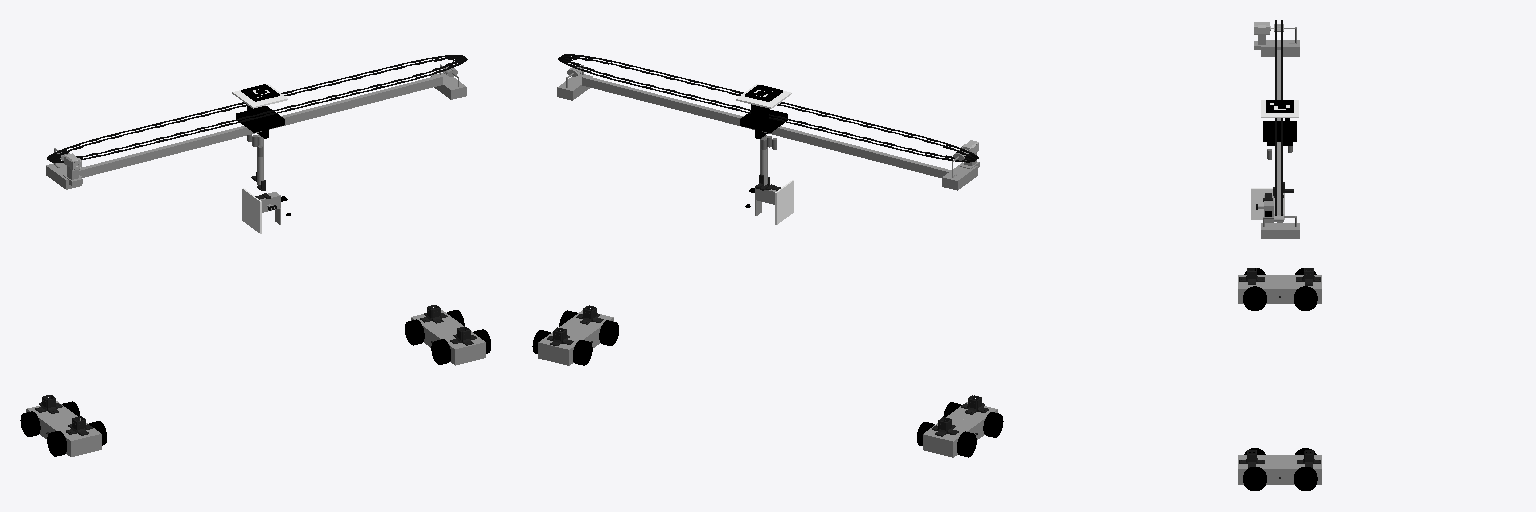
--- Render facts (derived) ---
Views: 3 orthographic renders of the robot side by side, from view 1: azimuth 30°, elevation 25°; view 2: azimuth 150°, elevation 25°; view 3: azimuth 270°, elevation 25°.
Robot: bot — 110 links, 109 joints (1 revolute, 13 continuous, 6 prismatic, 89 fixed); root link Untitled.052; default pose: all joints at 0.
Links seen in each view (by area): view 1: Untitled.052, Untitled.004, Untitled.009, Untitled.058, Untitled.079, Untitled.116, Untitled.026; view 2: Untitled.052, Untitled.009, Untitled.004, Untitled.079, Untitled.058, Untitled.116, Untitled.110, Untitled.026; view 3: Untitled.009, Untitled.004, Untitled.111, Untitled.026.
Link boxes in pixels (box(x1,y1,x2,y2)): Untitled.052: box(79, 75, 442, 177); Untitled.004: box(26, 401, 101, 456); Untitled.009: box(411, 310, 485, 365); Untitled.058: box(49, 57, 467, 162); Untitled.079: box(47, 55, 464, 160); Untitled.116: box(242, 188, 261, 233); Untitled.026: box(236, 106, 284, 132); Untitled.052: box(582, 75, 951, 177); Untitled.009: box(538, 310, 613, 365); Untitled.004: box(923, 402, 997, 457); Untitled.079: box(558, 56, 975, 162); Untitled.058: box(561, 54, 978, 159); Untitled.116: box(775, 180, 793, 224); Untitled.110: box(942, 162, 977, 190); Untitled.026: box(740, 109, 787, 132); Untitled.009: box(1238, 455, 1321, 484); Untitled.004: box(1238, 275, 1321, 303); Untitled.111: box(1261, 223, 1299, 238); Untitled.026: box(1263, 121, 1296, 141).
Size in the robot's own frame: 2.81 by 0.5 by 1.88 metres.
39 mesh visuals loaded from 25 distinct referenced files (14 binary STL); not drawn: 17 (reference not matched to a file when rendering).

URDF robot description (bot):
<?xml version="1.0"?>
<!-- created with Phobos 1.0.1 "Capricious Choutengan" -->
  <robot name="bot">

    <link name="Untitled">
      <inertial>
        <origin xyz="0 0 0" rpy="0 0 0"/>
        <mass value="0.001"/>
        <inertia ixx="0.001" ixy="0" ixz="0" iyy="0.001" iyz="0" izz="0.001"/>
      </inertial>
    </link>

    <link name="Untitled.001">
      <inertial>
        <origin xyz="0 0 0" rpy="0 0 0"/>
        <mass value="0.001"/>
        <inertia ixx="0.001" ixy="0" ixz="0" iyy="0.001" iyz="0" izz="0.001"/>
      </inertial>
    </link>

    <link name="Untitled.002">
      <inertial>
        <origin xyz="0 0 0" rpy="0 0 0"/>
        <mass value="0.001"/>
        <inertia ixx="0.001" ixy="0" ixz="0" iyy="0.001" iyz="0" izz="0.001"/>
      </inertial>
    </link>

    <link name="Untitled.003">
      <inertial>
        <origin xyz="0 0 0" rpy="0 0 0"/>
        <mass value="0.001"/>
        <inertia ixx="0.001" ixy="0" ixz="0" iyy="0.001" iyz="0" izz="0.001"/>
      </inertial>
    </link>

    <link name="Untitled.004">
      <inertial>
        <origin xyz="0 0 0" rpy="0 0 0"/>
        <mass value="8.0"/>
        <inertia ixx="0.00043" ixy="0" ixz="0" iyy="0.00145" iyz="0" izz="0.06667"/>
      </inertial>
      <visual name="base link.000">
        <origin xyz="0 0 0" rpy="0 0 0"/>
        <geometry>
          <box size="0.5 0.2 0.1"/>
        </geometry>
        <material name="Material.005"/>
      </visual>
      <collision name="base link.000">
        <origin xyz="0 0 0" rpy="0 0 0"/>
        <geometry>
          <box size="0.5 0.2 0.1"/>
        </geometry>
      </collision>
    </link>

    <link name="Untitled.005">
      <inertial>
        <origin xyz="0 0 0" rpy="0 0 0"/>
        <mass value="0.25"/>
        <inertia ixx="7e-05" ixy="0" ixz="0" iyy="0.00013" iyz="0" izz="0.00056"/>
      </inertial>
      <visual name="bl Link.000">
        <origin xyz="-0.0022 0 0" rpy="-3.14159 0 0"/>
        <geometry>
          <mesh filename="Cylinder.004.stl" scale="0.77778 0.77778 1.0"/>
        </geometry>
        <material name="Material.004"/>
      </visual>
      <collision name="bl Link.000">
        <origin xyz="-0.0022 0 0" rpy="-3.14159 0 0"/>
        <geometry>
          <cylinder radius="0.07" length="0.05"/>
        </geometry>
      </collision>
    </link>

    <link name="Untitled.006">
      <inertial>
        <origin xyz="0 0 0" rpy="0 0 0"/>
        <mass value="0.25"/>
        <inertia ixx="7e-05" ixy="0" ixz="0" iyy="0.00013" iyz="0" izz="0.00056"/>
      </inertial>
      <visual name="bl Link.002.000">
        <origin xyz="-0.0022 0 0" rpy="-3.14159 0 0"/>
        <geometry>
          <cylinder radius="0.07" length="0.05"/>
        </geometry>
        <material name="Material.001"/>
      </visual>
      <collision name="bl Link.002.000">
        <origin xyz="-0.0022 0 0" rpy="-3.14159 0 0"/>
        <geometry>
          <cylinder radius="0.07" length="0.05"/>
        </geometry>
      </collision>
    </link>

    <link name="Untitled.007">
      <inertial>
        <origin xyz="0 0 0" rpy="0 0 0"/>
        <mass value="0.25"/>
        <inertia ixx="7e-05" ixy="0" ixz="0" iyy="0.00013" iyz="0" izz="0.00056"/>
      </inertial>
      <visual name="bl Link.003.000">
        <origin xyz="-0.0022 0 0" rpy="0 0 0"/>
        <geometry>
          <cylinder radius="0.07" length="0.05"/>
        </geometry>
        <material name="Material.002"/>
      </visual>
      <collision name="bl Link.003.000">
        <origin xyz="-0.0022 0 0" rpy="0 0 0"/>
        <geometry>
          <cylinder radius="0.07" length="0.05"/>
        </geometry>
      </collision>
    </link>

    <link name="Untitled.008">
      <inertial>
        <origin xyz="0 0 0" rpy="0 0 0"/>
        <mass value="0.25"/>
        <inertia ixx="7e-05" ixy="0" ixz="0" iyy="0.00013" iyz="0" izz="0.00056"/>
      </inertial>
      <visual name="bl Link.001.000">
        <origin xyz="-0.0022 0 0" rpy="0 0 0"/>
        <geometry>
          <cylinder radius="0.07" length="0.05"/>
        </geometry>
        <material name="Material.003"/>
      </visual>
      <collision name="bl Link.001.000">
        <origin xyz="-0.0022 0 0" rpy="0 0 0"/>
        <geometry>
          <cylinder radius="0.07" length="0.05"/>
        </geometry>
      </collision>
    </link>

    <link name="Untitled.009">
      <inertial>
        <origin xyz="0 0 0" rpy="0 0 0"/>
        <mass value="8.0"/>
        <inertia ixx="0.00043" ixy="0" ixz="0" iyy="0.00145" iyz="0" izz="0.06667"/>
      </inertial>
      <visual name="base link.001">
        <origin xyz="0 0 0" rpy="0 0 0"/>
        <geometry>
          <box size="0.5 0.2 0.1"/>
        </geometry>
        <material name="Material.005"/>
      </visual>
      <collision name="base link.000">
        <origin xyz="0 0 0" rpy="0 0 0"/>
        <geometry>
          <box size="0.5 0.2 0.1"/>
        </geometry>
      </collision>
    </link>

    <link name="Untitled.010">
      <inertial>
        <origin xyz="0 0 0" rpy="0 0 0"/>
        <mass value="0.001"/>
        <inertia ixx="0.001" ixy="0" ixz="0" iyy="0.001" iyz="0" izz="0.001"/>
      </inertial>
    </link>

    <link name="Untitled.011">
      <inertial>
        <origin xyz="0 0 0" rpy="0 0 0"/>
        <mass value="0.25"/>
        <inertia ixx="7e-05" ixy="0" ixz="0" iyy="0.00013" iyz="0" izz="0.00056"/>
      </inertial>
      <visual name="bl Link.003.001">
        <origin xyz="-0.0022 0 0" rpy="0 0 0"/>
        <geometry>
          <cylinder radius="0.07" length="0.05"/>
        </geometry>
        <material name="Material.002"/>
      </visual>
      <collision name="bl Link.003.000">
        <origin xyz="-0.0022 0 0" rpy="0 0 0"/>
        <geometry>
          <cylinder radius="0.07" length="0.05"/>
        </geometry>
      </collision>
    </link>

    <link name="Untitled.012">
      <inertial>
        <origin xyz="0 0 0" rpy="0 0 0"/>
        <mass value="0.001"/>
        <inertia ixx="0.001" ixy="0" ixz="0" iyy="0.001" iyz="0" izz="0.001"/>
      </inertial>
    </link>

    <link name="Untitled.013">
      <inertial>
        <origin xyz="0 0 0" rpy="0 0 0"/>
        <mass value="0.001"/>
        <inertia ixx="0.001" ixy="0" ixz="0" iyy="0.001" iyz="0" izz="0.001"/>
      </inertial>
      <visual name="Pulley T-Mxl-Xl-Htd-Gt2 N-Tooth 20141225-11880-1Y2Kfq6-0">
        <origin xyz="0 0 -0.05" rpy="0 0 0"/>
        <geometry>
          <mesh filename="Pulley T-Mxl-Xl-Htd-Gt2 N-Tooth 20141225-11880-1Y2Kfq6-0.stl" scale="0.00021 0.00037 0.005"/>
        </geometry>
        <material name="Material.039"/>
      </visual>
    </link>

    <link name="Untitled.014">
      <inertial>
        <origin xyz="0 0 0" rpy="0 0 0"/>
        <mass value="0.001"/>
        <inertia ixx="0.001" ixy="0" ixz="0" iyy="0.001" iyz="0" izz="0.001"/>
      </inertial>
    </link>

    <link name="Untitled.015">
      <inertial>
        <origin xyz="0 0 0" rpy="0 0 0"/>
        <mass value="0.25"/>
        <inertia ixx="7e-05" ixy="0" ixz="0" iyy="0.00013" iyz="0" izz="0.00056"/>
      </inertial>
      <visual name="bl Link.001">
        <origin xyz="-0.0022 0 0" rpy="-3.14159 0 0"/>
        <geometry>
          <cylinder radius="0.07" length="0.05"/>
        </geometry>
        <material name="Material.004"/>
      </visual>
      <collision name="bl Link.000">
        <origin xyz="-0.0022 0 0" rpy="-3.14159 0 0"/>
        <geometry>
          <cylinder radius="0.07" length="0.05"/>
        </geometry>
      </collision>
    </link>

    <link name="Untitled.016">
      <inertial>
        <origin xyz="0 0 0" rpy="0 0 0"/>
        <mass value="0.001"/>
        <inertia ixx="0.001" ixy="0" ixz="0" iyy="0.001" iyz="0" izz="0.001"/>
      </inertial>
    </link>

    <link name="Untitled.017">
      <inertial>
        <origin xyz="0 0 0" rpy="0 0 0"/>
        <mass value="0.25"/>
        <inertia ixx="7e-05" ixy="0" ixz="0" iyy="0.00013" iyz="0" izz="0.00056"/>
      </inertial>
      <visual name="bl Link.001.001">
        <origin xyz="-0.0022 0 0" rpy="0 0 0"/>
        <geometry>
          <cylinder radius="0.07" length="0.05"/>
        </geometry>
        <material name="Material.003"/>
      </visual>
      <collision name="bl Link.001.000">
        <origin xyz="-0.0022 0 0" rpy="0 0 0"/>
        <geometry>
          <cylinder radius="0.07" length="0.05"/>
        </geometry>
      </collision>
    </link>

    <link name="Untitled.018">
      <inertial>
        <origin xyz="0 0 0" rpy="0 0 0"/>
        <mass value="0.02"/>
        <inertia ixx="2e-05" ixy="0" ixz="0" iyy="2e-05" iyz="0" izz="2e-05"/>
      </inertial>
      <visual name="base link.002">
        <origin xyz="0 0 0" rpy="0 0 0"/>
        <geometry>
          <mesh filename="base link.stl" scale="0.74892 0.75 0.33333"/>
        </geometry>
        <material name="Material.035"/>
      </visual>
      <collision name="base link.002.000">
        <origin xyz="0 0 0" rpy="0 0 0"/>
        <geometry>
          <mesh filename="base link.001.stl" scale="1.5043 1.5 1.0"/>
        </geometry>
      </collision>
    </link>

    <link name="Untitled.019">
      <inertial>
        <origin xyz="0 0 0" rpy="0 0 0"/>
        <mass value="0.01"/>
        <inertia ixx="2e-05" ixy="0" ixz="0" iyy="2e-05" iyz="0" izz="2e-05"/>
      </inertial>
      <visual name="inner Link.003">
        <origin xyz="0 0 0" rpy="0 0 0"/>
        <geometry>
          <mesh filename="inner Link.006.stl" scale="0.59176 0.57692 0.33333"/>
        </geometry>
        <material name="Material.036"/>
      </visual>
      <collision name="inner Link.003.000">
        <origin xyz="0 0 0" rpy="0 0 0"/>
        <geometry>
          <mesh filename="inner Link.007.stl" scale="1.0 1.0 1.0"/>
        </geometry>
      </collision>
    </link>

    <link name="Untitled.020">
      <inertial>
        <origin xyz="0 0 0" rpy="0 0 0"/>
        <mass value="0.001"/>
        <inertia ixx="2e-05" ixy="0" ixz="0" iyy="2e-05" iyz="0" izz="2e-05"/>
      </inertial>
      <visual name="Half Sphere 2">
        <origin xyz="0 0 0" rpy="-1.5708 0 0"/>
        <geometry>
          <mesh filename="Half Sphere 2.002.stl" scale="0.00489 0.00488 0.00488"/>
        </geometry>
        <material name="Material.037"/>
      </visual>
      <collision name="Half Sphere 2.000">
        <origin xyz="-0.001 0 -0.00176" rpy="-1.5708 0 0"/>
        <geometry>
          <mesh filename="Half Sphere 2.003.stl" scale="1.0 1.0 1.0"/>
        </geometry>
      </collision>
    </link>

    <link name="Untitled.021">
      <inertial>
        <origin xyz="0 0 0.01" rpy="0 0 0"/>
        <mass value="0.01"/>
        <inertia ixx="2e-05" ixy="0" ixz="0" iyy="2e-05" iyz="0" izz="2e-05"/>
      </inertial>
      <visual name="Cube.003">
        <origin xyz="0 0 0.01" rpy="0 0 0"/>
        <geometry>
          <box size="0.15 0.03 0.01"/>
        </geometry>
        <material name="Material.009"/>
      </visual>
      <collision name="Cube.003">
        <origin xyz="0 0 0.01" rpy="0 0 0"/>
        <geometry>
          <box size="0.15 0.03 0.01"/>
        </geometry>
      </collision>
    </link>

    <link name="Untitled.022">
      <inertial>
        <origin xyz="0 0 0" rpy="0 0 0"/>
        <mass value="0.05"/>
        <inertia ixx="2e-05" ixy="0" ixz="0" iyy="2e-05" iyz="0" izz="2e-05"/>
      </inertial>
      <visual name="Cube.002">
        <origin xyz="0 0 0" rpy="0 0 0"/>
        <geometry>
          <box size="0.03 0.03 0.06"/>
        </geometry>
        <material name="Material.010"/>
      </visual>
      <collision name="Cube.002">
        <origin xyz="0 0 0" rpy="0 0 0"/>
        <geometry>
          <box size="0.03 0.03 0.06"/>
        </geometry>
      </collision>
    </link>

    <link name="Untitled.023">
      <inertial>
        <origin xyz="0 0 0" rpy="0 0 0"/>
        <mass value="0.05"/>
        <inertia ixx="2e-05" ixy="0" ixz="0" iyy="2e-05" iyz="0" izz="2e-05"/>
      </inertial>
      <visual name="Cube.001">
        <origin xyz="0 0 0" rpy="0 0 0"/>
        <geometry>
          <box size="0.03 0.03 0.06"/>
        </geometry>
        <material name="Material.010"/>
      </visual>
      <collision name="Cube.001">
        <origin xyz="0 0 0" rpy="0 0 0"/>
        <geometry>
          <box size="0.03 0.03 0.06"/>
        </geometry>
      </collision>
    </link>

    <link name="Untitled.024">
      <inertial>
        <origin xyz="0 0 0" rpy="0 0 0"/>
        <mass value="0.001"/>
        <inertia ixx="0.001" ixy="0" ixz="0" iyy="0.001" iyz="0" izz="0.001"/>
      </inertial>
    </link>

    <link name="Untitled.025">
      <inertial>
        <origin xyz="0 0 0" rpy="0 0 0"/>
        <mass value="0.001"/>
        <inertia ixx="0.001" ixy="0" ixz="0" iyy="0.001" iyz="0" izz="0.001"/>
      </inertial>
    </link>

    <link name="Untitled.026">
      <inertial>
        <origin xyz="0 0 0" rpy="0 0 0"/>
        <mass value="0.5"/>
        <inertia ixx="2e-05" ixy="0" ixz="0" iyy="2e-05" iyz="0" izz="2e-05"/>
      </inertial>
      <visual name="Cube">
        <origin xyz="0 0 0" rpy="-1.5708 0 0"/>
        <geometry>
          <box size="0.2 0.2 0.04"/>
        </geometry>
        <material name="Material.008"/>
      </visual>
      <collision name="Cube">
        <origin xyz="0 0 0" rpy="-1.5708 0 0"/>
        <geometry>
          <box size="0.2 0.2 0.04"/>
        </geometry>
      </collision>
    </link>

    <link name="Untitled.027">
      <inertial>
        <origin xyz="0 0 0" rpy="0 0 0"/>
        <mass value="0.5"/>
        <inertia ixx="0.00286" ixy="0" ixz="0" iyy="0.00286" iyz="0" izz="0.0001"/>
      </inertial>
      <visual name="base link">
        <origin xyz="0 0 0" rpy="0 0 0"/>
        <geometry>
          <mesh filename="base link.006.stl" scale="1.0 1.0 1.0"/>
        </geometry>
        <material name="Material.011"/>
      </visual>
      <collision name="base link.000.001.002">
        <origin xyz="0 0.00061 0" rpy="0 0 0"/>
        <geometry>
          <mesh filename="base link.009.stl" scale="1.0 1.0 1.0"/>
        </geometry>
      </collision>
    </link>

    <link name="Untitled.028">
      <inertial>
        <origin xyz="0 0 0.02952" rpy="0 0 0"/>
        <mass value="0.5"/>
        <inertia ixx="0.00377" ixy="0" ixz="0" iyy="0.00377" iyz="0" izz="4e-05"/>
      </inertial>
      <visual name="inner Link">
        <origin xyz="0 0 0.02952" rpy="0 0 0"/>
        <geometry>
          <mesh filename="inner Link.stl" scale="1.0 1.0 1.0"/>
        </geometry>
        <material name="Material.012"/>
      </visual>
      <collision name="inner Link.000">
        <origin xyz="0 0 0.02952" rpy="0 0 0"/>
        <geometry>
          <mesh filename="inner Link.003.stl" scale="1.0 1.0 1.0"/>
        </geometry>
      </collision>
    </link>

    <link name="Untitled.029">
      <inertial>
        <origin xyz="0 0 0" rpy="0 0 0"/>
        <mass value="0.1"/>
        <inertia ixx="2e-05" ixy="0" ixz="0" iyy="2e-05" iyz="0" izz="2e-05"/>
      </inertial>
      <visual name="Cube.004">
        <origin xyz="0 0 0" rpy="0 0 0"/>
        <geometry>
          <box size="0.06 0.026 0.01"/>
        </geometry>
        <material name="Material.013"/>
      </visual>
      <collision name="Cube.004">
        <origin xyz="0 0 0" rpy="0 0 0"/>
        <geometry>
          <box size="0.06 0.026 0.01"/>
        </geometry>
      </collision>
    </link>

    <link name="Untitled.030">
      <inertial>
        <origin xyz="0 0 0" rpy="0 0 0"/>
        <mass value="0.5"/>
        <inertia ixx="0.00286" ixy="0" ixz="0" iyy="0.00286" iyz="0" izz="0.0001"/>
      </inertial>
      <visual name="base link.003">
        <origin xyz="0 0 0" rpy="0 0 0"/>
        <geometry>
          <mesh filename="base link.007.stl" scale="1.0 1.0 1.0"/>
        </geometry>
        <material name="Material.014"/>
      </visual>
      <collision name="base link.003.000">
        <origin xyz="0 0 0" rpy="0 0 0"/>
        <geometry>
          <mesh filename="base link.010.stl" scale="1.0 1.0 1.0"/>
        </geometry>
      </collision>
    </link>

    <link name="Untitled.031">
      <inertial>
        <origin xyz="0 0 0" rpy="0 0 0"/>
        <mass value="0.5"/>
        <inertia ixx="0.00377" ixy="0" ixz="0" iyy="0.00377" iyz="0" izz="4e-05"/>
      </inertial>
      <visual name="inner Link.001">
        <origin xyz="0 0 0" rpy="0 0 0"/>
        <geometry>
          <mesh filename="inner Link.001.stl" scale="1.0 1.0 1.0"/>
        </geometry>
        <material name="Material.015"/>
      </visual>
      <collision name="inner Link.001.000">
        <origin xyz="0 0 0" rpy="0 0 0"/>
        <geometry>
          <mesh filename="inner Link.004.stl" scale="1.0 1.0 1.0"/>
        </geometry>
      </collision>
    </link>

    <link name="Untitled.032">
      <inertial>
        <origin xyz="0 0 0" rpy="0 0 0"/>
        <mass value="0.1"/>
        <inertia ixx="2e-05" ixy="0" ixz="0" iyy="2e-05" iyz="0" izz="2e-05"/>
      </inertial>
      <visual name="Cube.005">
        <origin xyz="0 0 0" rpy="0 0 0"/>
        <geometry>
          <box size="0.06 0.026 0.01"/>
        </geometry>
        <material name="Material.016"/>
      </visual>
      <collision name="Cube.005">
        <origin xyz="0 0 0" rpy="0 0 0"/>
        <geometry>
          <box size="0.06 0.026 0.01"/>
        </geometry>
      </collision>
    </link>

    <link name="Untitled.033">
      <inertial>
        <origin xyz="0 0 0" rpy="0 0 0"/>
        <mass value="0.5"/>
        <inertia ixx="0.00286" ixy="0" ixz="0" iyy="0.00286" iyz="0" izz="0.0001"/>
      </inertial>
      <visual name="base link.004">
        <origin xyz="0 0 0" rpy="0 0 0"/>
        <geometry>
          <mesh filename="base link.008.stl" scale="1.0 1.0 1.0"/>
        </geometry>
        <material name="Material.017"/>
      </visual>
      <collision name="base link.004.000">
        <origin xyz="0 0 0" rpy="0 0 0"/>
        <geometry>
          <mesh filename="base link.011.stl" scale="1.0 1.0 1.0"/>
        </geometry>
      </collision>
    </link>

    <link name="Untitled.034">
      <inertial>
        <origin xyz="0 0 0" rpy="0 0 0"/>
        <mass value="0.5"/>
        <inertia ixx="0.00377" ixy="0" ixz="0" iyy="0.00377" iyz="0" izz="4e-05"/>
      </inertial>
      <visual name="inner Link.002">
        <origin xyz="0 0 0" rpy="0 0 0"/>
        <geometry>
          <mesh filename="inner Link.002.stl" scale="1.0 1.0 1.0"/>
        </geometry>
        <material name="Material.018"/>
      </visual>
      <collision name="inner Link.002.000">
        <origin xyz="0 0 0" rpy="0 0 0"/>
        <geometry>
          <mesh filename="inner Link.005.stl" scale="1.0 1.0 1.0"/>
        </geometry>
      </collision>
    </link>

    <link name="Untitled.035">
      <inertial>
        <origin xyz="0 0 0" rpy="0 0 0"/>
        <mass value="0.1"/>
        <inertia ixx="2e-05" ixy="0" ixz="0" iyy="2e-05" iyz="0" izz="2e-05"/>
      </inertial>
      <visual name="Cube.006">
        <origin xyz="0 0 0" rpy="0 0 0"/>
        <geometry>
          <box size="0.06 0.026 0.01"/>
        </geometry>
        <material name="Material.019"/>
      </visual>
      <collision name="Cube.006">
        <origin xyz="0 0 0" rpy="0 0 0"/>
        <geometry>
          <box size="0.06 0.026 0.01"/>
        </geometry>
      </collision>
    </link>

    <link name="Untitled.036">
      <inertial>
        <origin xyz="0 0 0" rpy="0 0 0"/>
        <mass value="0.3"/>
        <inertia ixx="2e-05" ixy="0" ixz="0" iyy="2e-05" iyz="0" izz="2e-05"/>
      </inertial>
      <visual name="Cube.007">
        <origin xyz="0 0 0" rpy="0 0 0"/>
        <geometry>
          <box size="0.06 0.15 0.08"/>
        </geometry>
        <material name="Material.020"/>
      </visual>
      <collision name="Cube.007">
        <origin xyz="0 0 0" rpy="0 0 0"/>
        <geometry>
          <box size="0.04 0.15 0.08"/>
        </geometry>
      </collision>
    </link>

    <link name="Untitled.037">
      <inertial>
        <origin xyz="0 0 0.01" rpy="0 0 0"/>
        <mass value="0.05"/>
        <inertia ixx="2e-05" ixy="0" ixz="0" iyy="2e-05" iyz="0" izz="2e-05"/>
      </inertial>
      <visual name="Cube.008">
        <origin xyz="0 0 0.01" rpy="-1.5708 0 0"/>
        <geometry>
          <box size="0.06 0.005 0.1"/>
        </geometry>
        <material name="Material.007"/>
      </visual>
      <collision name="Cube.008">
        <origin xyz="0 0 0.01" rpy="-1.5708 0 0"/>
        <geometry>
          <box size="0.04 0.005 0.1"/>
        </geometry>
      </collision>
    </link>

    <link name="Untitled.038">
      <inertial>
        <origin xyz="0 0 0.01" rpy="0 0 0"/>
        <mass value="0.05"/>
        <inertia ixx="2e-05" ixy="0" ixz="0" iyy="2e-05" iyz="0" izz="2e-05"/>
      </inertial>
      <visual name="Cube.009">
        <origin xyz="0 0 0.01" rpy="-1.5708 0 0"/>
        <geometry>
          <box size="0.06 0.005 0.1"/>
        </geometry>
        <material name="Material.007"/>
      </visual>
      <collision name="Cube.009">
        <origin xyz="0 0 0.01" rpy="-1.5708 0 0"/>
        <geometry>
          <box size="0.04 0.005 0.1"/>
        </geometry>
      </collision>
    </link>

    <link name="Untitled.039">
      <inertial>
        <origin xyz="0 0 0" rpy="0 0 0"/>
        <mass value="0.001"/>
        <inertia ixx="0.001" ixy="0" ixz="0" iyy="0.001" iyz="0" izz="0.001"/>
      </inertial>
      <visual name="L bracket.007">
        <origin xyz="0 0 -0.02" rpy="0 0 0"/>
        <geometry>
          <mesh filename="L bracket.stl" scale="0.00116 0.0016 0.00167"/>
        </geometry>
        <material name="Material.051"/>
      </visual>
    </link>

    <link name="Untitled.040">
      <inertial>
        <origin xyz="0 0 0" rpy="0 0 0"/>
        <mass value="0.001"/>
        <inertia ixx="0.001" ixy="0" ixz="0" iyy="0.001" iyz="0" izz="0.001"/>
      </inertial>
      <visual name="L bracket.004">
        <origin xyz="0 0 0" rpy="0 0 0"/>
        <geometry>
          <mesh filename="L bracket.stl" scale="0.00116 0.0016 0.00167"/>
        </geometry>
        <material name="Material.051"/>
      </visual>
    </link>

    <link name="Untitled.041">
      <inertial>
        <origin xyz="0 0 0" rpy="0 0 0"/>
        <mass value="0.005"/>
        <inertia ixx="2e-05" ixy="0" ixz="0" iyy="2e-05" iyz="0" izz="2e-05"/>
      </inertial>
      <visual name="Cube.012.000">
        <origin xyz="0 0 0" rpy="0 0 0"/>
        <geometry>
          <box size="0.06 0.026 0.01"/>
        </geometry>
        <material name="Material.025"/>
      </visual>
      <collision name="Cube.012.000">
        <origin xyz="0 0 0" rpy="0 0 0"/>
        <geometry>
          <box size="0.06 0.026 0.01"/>
        </geometry>
      </collision>
    </link>

    <link name="Untitled.042">
      <inertial>
        <origin xyz="0 0 0.01" rpy="0 0 0"/>
        <mass value="0.005"/>
        <inertia ixx="2e-05" ixy="0" ixz="0" iyy="2e-05" iyz="0" izz="2e-05"/>
      </inertial>
      <visual name="Cube.013">
        <origin xyz="0 0 0.01" rpy="-1.5708 0 -1.5708"/>
        <geometry>
          <box size="0.02 0.05 0.01"/>
        </geometry>
        <material name="Material.026"/>
      </visual>
      <collision name="Cube.013">
        <origin xyz="0 0 0.01" rpy="-1.5708 0 -1.5708"/>
        <geometry>
          <box size="0.02 0.05 0.01"/>
        </geometry>
      </collision>
    </link>

    <link name="Untitled.043">
      <inertial>
        <origin xyz="0 0 0" rpy="0 0 0"/>
        <mass value="0.001"/>
        <inertia ixx="0.001" ixy="0" ixz="0" iyy="0.001" iyz="0" izz="0.001"/>
      </inertial>
      <visual name="Cylinder.001">
        <origin xyz="0 0 0" rpy="0 0 0"/>
        <geometry>
          <cylinder radius="0.005" length="0.01"/>
        </geometry>
        <material name="Material.027"/>
      </visual>
    </link>

    <link name="Untitled.044">
      <inertial>
        <origin xyz="0 0 0" rpy="0 0 0"/>
        <mass value="0.001"/>
        <inertia ixx="0.001" ixy="0" ixz="0" iyy="0.001" iyz="0" izz="0.001"/>
      </inertial>
      <visual name="Cylinder">
        <origin xyz="0 0 0" rpy="0 0 0"/>
        <geometry>
          <cylinder radius="0.005" length="0.01"/>
        </geometry>
        <material name="Material.027"/>
      </visual>
    </link>

    <link name="Untitled.045">
      <inertial>
        <origin xyz="0 0 0" rpy="0 0 0"/>
        <mass value="0.001"/>
        <inertia ixx="0.001" ixy="0" ixz="0" iyy="0.001" iyz="0" izz="0.001"/>
      </inertial>
      <visual name="L bracket.008">
        <origin xyz="0 0 0" rpy="0 0 0"/>
        <geometry>
          <mesh filename="L bracket.stl" scale="0.00116 0.0016 0.00167"/>
        </geometry>
        <material name="Material.051"/>
      </visual>
    </link>

    <link name="Untitled.046">
      <inertial>
        <origin xyz="0 0 0" rpy="0 0 0"/>
        <mass value="0.001"/>
        <inertia ixx="0.001" ixy="0" ixz="0" iyy="0.001" iyz="0" izz="0.001"/>
      </inertial>
      <visual name="L bracket.011">
        <origin xyz="0 0 0" rpy="0 0 0"/>
        <geometry>
          <mesh filename="L bracket.stl" scale="0.00116 0.0016 0.00167"/>
        </geometry>
        <material name="Material.051"/>
      </visual>
    </link>

    <link name="Untitled.047">
      <inertial>
        <origin xyz="0 0 0" rpy="0 0 0"/>
        <mass value="0.01"/>
        <inertia ixx="2e-05" ixy="0" ixz="0" iyy="2e-05" iyz="0" izz="2e-05"/>
      </inertial>
      <visual name="Cube.012">
        <origin xyz="0 0 0" rpy="0 0 0"/>
        <geometry>
          <box size="0.04 0.05 0.01"/>
        </geometry>
        <material name="Material.032"/>
      </visual>
      <collision name="Cube.012">
        <origin xyz="0 0 0" rpy="0 0 0"/>
        <geometry>
          <box size="0.04 0.05 0.01"/>
        </geometry>
      </collision>
    </link>

    <link name="Untitled.048">
      <inertial>
        <origin xyz="0 0 0" rpy="0 0 0"/>
        <mass value="0.001"/>
        <inertia ixx="0.001" ixy="0" ixz="0" iyy="0.001" iyz="0" izz="0.001"/>
      </inertial>
      <visual name="Cube.014">
        <origin xyz="0 0 0" rpy="0 0 0"/>
        <geometry>
          <box size="0.1 0.07 0.03"/>
        </geometry>
        <material name="Material.041"/>
      </visual>
    </link>

    <link name="Untitled.049">
      <inertial>
        <origin xyz="0 0 0" rpy="0 0 0"/>
        <mass value="0.001"/>
        <inertia ixx="0.001" ixy="0" ixz="0" iyy="0.001" iyz="0" izz="0.001"/>
      </inertial>
      <visual name="Cube.015">
        <origin xyz="0 0 0" rpy="0 0 0"/>
        <geometry>
          <box size="0.05 0.05 0.08"/>
        </geometry>
        <material name="Material.042"/>
      </visual>
    </link>

    <link name="Untitled.050">
      <inertial>
        <origin xyz="0 0 0" rpy="0 0 0"/>
        <mass value="0.001"/>
        <inertia ixx="0.001" ixy="0" ixz="0" iyy="0.001" iyz="0" izz="0.001"/>
      </inertial>
      <visual name="L bracket.009">
        <origin xyz="0.01 0 0" rpy="0 0 0"/>
        <geometry>
          <mesh filename="L bracket.stl" scale="0.00116 0.0016 0.00167"/>
        </geometry>
        <material name="Material.051"/>
      </visual>
    </link>

    <link name="Untitled.051">
      <inertial>
        <origin xyz="0 0 0" rpy="0 0 0"/>
        <mass value="0.001"/>
        <inertia ixx="0.001" ixy="0" ixz="0" iyy="0.001" iyz="0" izz="0.001"/>
      </inertial>
      <visual name="L bracket.010">
        <origin xyz="0 0 0" rpy="0 0 0"/>
        <geometry>
          <mesh filename="L bracket.stl" scale="0.00116 0.0016 0.00167"/>
        </geometry>
        <material name="Material.051"/>
      </visual>
    </link>

    <link name="Untitled.052">
      <inertial>
        <origin xyz="0 0 0" rpy="0 0 0"/>
        <mass value="2.0"/>
        <inertia ixx="1.00174" ixy="0" ixz="0" iyy="0.00057" iyz="0" izz="0.92057"/>
      </inertial>
      <visual name="horizantal rod">
        <origin xyz="0 0 0" rpy="0 -0.01396 0"/>
        <geometry>
          <mesh filename="horizantal rod.stl" scale="1.02128 1.00001 1.0"/>
        </geometry>
        <material name="Material.030"/>
      </visual>
      <collision name="horizantal rod.000">
        <origin xyz="0 0 0" rpy="0 -0.01396 0"/>
        <geometry>
          <mesh filename="horizantal rod.001.stl" scale="1.0 1.0 1.0"/>
        </geometry>
      </collision>
    </link>

    <link name="Untitled.053">
      <inertial>
        <origin xyz="0 0 0" rpy="0 0 0"/>
        <mass value="0.001"/>
        <inertia ixx="0.001" ixy="0" ixz="0" iyy="0.001" iyz="0" izz="0.001"/>
      </inertial>
      <visual name="NEMA 17">
        <origin xyz="0 0 0" rpy="0 0 0"/>
        <geometry>
          <mesh filename="NEMA 17.stl" scale="0.00142 0.00142 0.00221"/>
        </geometry>
        <material name="Material.038"/>
      </visual>
    </link>

    <link name="Untitled.054">
      <inertial>
        <origin xyz="0 0 0" rpy="0 0 0"/>
        <mass value="0.25"/>
        <inertia ixx="7e-05" ixy="0" ixz="0" iyy="0.00013" iyz="0" izz="0.00056"/>
      </inertial>
      <visual name="bl Link.002.001">
        <origin xyz="-0.0022 0 0" rpy="-3.14159 0 0"/>
        <geometry>
          <cylinder radius="0.07" length="0.05"/>
        </geometry>
        <material name="Material.001"/>
      </visual>
      <collision name="bl Link.002.000">
        <origin xyz="-0.0022 0 0" rpy="-3.14159 0 0"/>
        <geometry>
          <cylinder radius="0.07" length="0.05"/>
        </geometry>
      </collision>
    </link>

    <link name="Untitled.055">
      <inertial>
        <origin xyz="0 0 0" rpy="0 0 0"/>
        <mass value="0.001"/>
        <inertia ixx="0.001" ixy="0" ixz="0" iyy="0.001" iyz="0" izz="0.001"/>
      </inertial>
      <visual name="Cylinder.004">
        <origin xyz="0 0 0" rpy="0 0 0"/>
        <geometry>
          <cylinder radius="0.005" length="0.08"/>
        </geometry>
        <material name="Material.040"/>
      </visual>
    </link>

    <link name="Untitled.056">
      <inertial>
        <origin xyz="0 0 0" rpy="0 0 0"/>
        <mass value="0.001"/>
        <inertia ixx="0.001" ixy="0" ixz="0" iyy="0.001" iyz="0" izz="0.001"/>
      </inertial>
      <visual name="Cylinder.005">
        <origin xyz="0 0 0" rpy="0 0 0"/>
        <geometry>
          <cylinder radius="0.005" length="0.11"/>
        </geometry>
        <material name="Material.040"/>
      </visual>
    </link>

    <link name="Untitled.057">
      <inertial>
        <origin xyz="0 0 0" rpy="0 0 0"/>
        <mass value="0.001"/>
        <inertia ixx="0.001" ixy="0" ixz="0" iyy="0.001" iyz="0" izz="0.001"/>
      </inertial>
      <visual name="Cylinder.006">
        <origin xyz="0 0 0" rpy="0 0 0"/>
        <geometry>
          <cylinder radius="0.005" length="0.05"/>
        </geometry>
        <material name="Material.040"/>
      </visual>
    </link>

    <link name="Untitled.058">
      <inertial>
        <origin xyz="0 0 0" rpy="0 0 0"/>
        <mass value="0.001"/>
        <inertia ixx="0.001" ixy="0" ixz="0" iyy="0.001" iyz="0" izz="0.001"/>
      </inertial>
      <visual name="Original.001">
        <origin xyz="0 0 0.02231" rpy="0 0 0"/>
        <geometry>
          <mesh filename="Original.stl" scale="0.1462 0.01681 0.00592"/>
        </geometry>
        <material name="Material.006"/>
      </visual>
    </link>

    <link name="Untitled.059">
      <inertial>
        <origin xyz="0 0 0" rpy="0 0 0"/>
        <mass value="0.001"/>
        <inertia ixx="0.001" ixy="0" ixz="0" iyy="0.001" iyz="0" izz="0.001"/>
      </inertial>
      <visual name="Cylinder.012">
        <origin xyz="0 0 0" rpy="0 0 0"/>
        <geometry>
          <cylinder radius="0.005" length="0.08"/>
        </geometry>
        <material name="Material.040"/>
      </visual>
    </link>

    <link name="Untitled.060">
      <inertial>
        <origin xyz="0 0 0" rpy="0 0 0"/>
        <mass value="0.001"/>
        <inertia ixx="0.001" ixy="0" ixz="0" iyy="0.001" iyz="0" izz="0.001"/>
      </inertial>
      <visual name="Cylinder.010">
        <origin xyz="0 0 0" rpy="0 0 0"/>
        <geometry>
          <cylinder radius="0.005" length="0.11"/>
        </geometry>
        <material name="Material.040"/>
      </visual>
    </link>

    <link name="Untitled.061">
      <inertial>
        <origin xyz="0 0 0" rpy="0 0 0"/>
        <mass value="0.001"/>
        <inertia ixx="0.001" ixy="0" ixz="0" iyy="0.001" iyz="0" izz="0.001"/>
      </inertial>
      <visual name="Cylinder.009">
        <origin xyz="0 0 0" rpy="0 0 0"/>
        <geometry>
          <cylinder radius="0.005" length="0.08"/>
        </geometry>
        <material name="Material.040"/>
      </visual>
      <visual name="Pulley T-Mxl-Xl-Htd-Gt2 N-Tooth 20141225-11880-1Y2Kfq6-0.001">
        <origin xyz="0 0 0.0194" rpy="0 -3.14159 0"/>
        <geometry>
          <mesh filename="Pulley T-Mxl-Xl-Htd-Gt2 N-Tooth 20141225-11880-1Y2Kfq6-0.stl" scale="0.00021 0.00037 0.005"/>
        </geometry>
        <material name="Material.039"/>
      </visual>
    </link>

    <link name="Untitled.062">
      <inertial>
        <origin xyz="0 0 0" rpy="0 0 0"/>
        <mass value="0.001"/>
        <inertia ixx="0.001" ixy="0" ixz="0" iyy="0.001" iyz="0" izz="0.001"/>
      </inertial>
    </link>

    <link name="Untitled.063">
      <inertial>
        <origin xyz="0 0 0" rpy="0 0 0"/>
        <mass value="0.001"/>
        <inertia ixx="0.001" ixy="0" ixz="0" iyy="0.001" iyz="0" izz="0.001"/>
      </inertial>
      <visual name="Cylinder.008">
        <origin xyz="0 0 0" rpy="0 0 0"/>
        <geometry>
          <cylinder radius="0.005" length="0.08"/>
        </geometry>
        <material name="Material.040"/>
      </visual>
    </link>

    <link name="Untitled.064">
      <inertial>
        <origin xyz="0 0 0" rpy="0 0 0"/>
        <mass value="0.001"/>
        <inertia ixx="0.001" ixy="0" ixz="0" iyy="0.001" iyz="0" izz="0.001"/>
      </inertial>
      <visual name="Cylinder.007">
        <origin xyz="0 0 0" rpy="0 0 0"/>
        <geometry>
          <cylinder radius="0.005" length="0.11"/>
        </geometry>
        <material name="Material.040"/>
      </visual>
    </link>

    <link name="Untitled.065">
      <inertial>
        <origin xyz="0 0 0" rpy="0 0 0"/>
        <mass value="0.001"/>
        <inertia ixx="0.001" ixy="0" ixz="0" iyy="0.001" iyz="0" izz="0.001"/>
      </inertial>
      <visual name="Cylinder.011">
        <origin xyz="0 0 0" rpy="0 0 0"/>
        <geometry>
          <cylinder radius="0.005" length="0.08"/>
        </geometry>
        <material name="Material.040"/>
      </visual>
    </link>

    <link name="Untitled.073">
      <inertial>
        <origin xyz="0 0 0" rpy="0 0 0"/>
        <mass value="0.001"/>
        <inertia ixx="0.001" ixy="0" ixz="0" iyy="0.001" iyz="0" izz="0.001"/>
      </inertial>
      <visual name="L bracket.005">
        <origin xyz="0 0 0" rpy="0 0 0"/>
        <geometry>
          <mesh filename="L bracket.stl" scale="0.00116 0.0016 0.00167"/>
        </geometry>
        <material name="Material.051"/>
      </visual>
    </link>

    <link name="Untitled.074">
      <inertial>
        <origin xyz="0 0 0" rpy="0 0 0"/>
        <mass value="0.001"/>
        <inertia ixx="0.001" ixy="0" ixz="0" iyy="0.001" iyz="0" izz="0.001"/>
      </inertial>
      <visual name="L bracket.006">
        <origin xyz="0 0 0" rpy="0 0 0"/>
        <geometry>
          <mesh filename="L bracket.stl" scale="0.00116 0.0016 0.00167"/>
        </geometry>
        <material name="Material.051"/>
      </visual>
    </link>

    <link name="Untitled.075">
      <inertial>
        <origin xyz="0 0 0" rpy="0 0 0"/>
        <mass value="0.001"/>
        <inertia ixx="0.001" ixy="0" ixz="0" iyy="0.001" iyz="0" izz="0.001"/>
      </inertial>
      <visual name="L bracket.001">
        <origin xyz="0 0 0" rpy="0 0 0"/>
        <geometry>
          <mesh filename="L bracket.stl" scale="0.00116 0.0016 0.00167"/>
        </geometry>
        <material name="Material.051"/>
      </visual>
    </link>

    <link name="Untitled.076">
      <inertial>
        <origin xyz="0 0 0" rpy="0 0 0"/>
        <mass value="0.001"/>
        <inertia ixx="0.001" ixy="0" ixz="0" iyy="0.001" iyz="0" izz="0.001"/>
      </inertial>
      <visual name="L bracket.002">
        <origin xyz="0 0 0" rpy="0 0 0"/>
        <geometry>
          <mesh filename="L bracket.stl" scale="0.00116 0.0016 0.00167"/>
        </geometry>
        <material name="Material.051"/>
      </visual>
    </link>

    <link name="Untitled.077">
      <inertial>
        <origin xyz="0 0 0" rpy="0 0 0"/>
        <mass value="0.001"/>
        <inertia ixx="0.001" ixy="0" ixz="0" iyy="0.001" iyz="0" izz="0.001"/>
      </inertial>
      <visual name="L bracket.003">
        <origin xyz="0 0 -0.01" rpy="0 0 0"/>
        <geometry>
          <mesh filename="L bracket.stl" scale="0.00116 0.0016 0.00167"/>
        </geometry>
        <material name="Material.051"/>
      </visual>
    </link>

    <link name="Untitled.078">
      <inertial>
        <origin xyz="0 0 0" rpy="0 0 0"/>
        <mass value="0.001"/>
        <inertia ixx="0.001" ixy="0" ixz="0" iyy="0.001" iyz="0" izz="0.001"/>
      </inertial>
      <visual name="L bracket">
        <origin xyz="0.005 0 0" rpy="0 0 0"/>
        <geometry>
          <mesh filename="L bracket.stl" scale="0.00116 0.0016 0.00167"/>
        </geometry>
        <material name="Material.051"/>
      </visual>
    </link>

    <link name="Untitled.079">
      <inertial>
        <origin xyz="0 0 0" rpy="0 0 0"/>
        <mass value="0.001"/>
        <inertia ixx="0.001" ixy="0" ixz="0" iyy="0.001" iyz="0" izz="0.001"/>
      </inertial>
      <visual name="Original">
        <origin xyz="0 0 0" rpy="0 0 0"/>
        <geometry>
          <mesh filename="Original.stl" scale="0.1462 0.01681 0.00592"/>
        </geometry>
        <material name="Material.006"/>
      </visual>
    </link>

    <link name="Untitled.080">
      <inertial>
        <origin xyz="0 0 0" rpy="0 0 0"/>
        <mass value="0.001"/>
        <inertia ixx="0.001" ixy="0" ixz="0" iyy="0.001" iyz="0" izz="0.001"/>
      </inertial>
      <visual name="Cube.010">
        <origin xyz="0 0 0" rpy="0 0 0"/>
        <geometry>
          <box size="0.01 0.026 0.05"/>
        </geometry>
        <material name="Material.033"/>
      </visual>
    </link>

    <link name="Untitled.081">
      <inertial>
        <origin xyz="0 0 0" rpy="0 0 0"/>
        <mass value="0.001"/>
        <inertia ixx="0.001" ixy="0" ixz="0" iyy="0.001" iyz="0" izz="0.001"/>
      </inertial>
      <visual name="Cube.011">
        <origin xyz="0 0 0" rpy="0 0 0"/>
        <geometry>
          <box size="0.01 0.026 0.05"/>
        </geometry>
        <material name="Material.033"/>
      </visual>
    </link>

    <link name="Untitled.082">
      <inertial>
        <origin xyz="0 0 0" rpy="0 0 0"/>
        <mass value="0.001"/>
        <inertia ixx="0.001" ixy="0" ixz="0" iyy="0.001" iyz="0" izz="0.001"/>
      </inertial>
      <visual name="Cylinder.002">
        <origin xyz="0 0 0" rpy="0 0 0"/>
        <geometry>
          <cylinder radius="0.015" length="0.06"/>
        </geometry>
        <material name="Material.034"/>
      </visual>
    </link>

    <link name="Untitled.083">
      <inertial>
        <origin xyz="0 0 0" rpy="0 0 0"/>
        <mass value="0.001"/>
        <inertia ixx="0.001" ixy="0" ixz="0" iyy="0.001" iyz="0" izz="0.001"/>
      </inertial>
      <visual name="Cylinder.003">
        <origin xyz="0 0 0" rpy="0 0 0"/>
        <geometry>
          <cylinder radius="0.015" length="0.06"/>
        </geometry>
        <material name="Material.034"/>
      </visual>
    </link>

    <link name="Untitled.084">
      <inertial>
        <origin xyz="0 0 0" rpy="0 0 0"/>
        <mass value="0.001"/>
        <inertia ixx="0.001" ixy="0" ixz="0" iyy="0.001" iyz="0" izz="0.001"/>
      </inertial>
      <visual name="Cylinder.013">
        <origin xyz="0 0 0" rpy="0 0 0"/>
        <geometry>
          <cylinder radius="0.015" length="0.06"/>
        </geometry>
        <material name="Material.034"/>
      </visual>
    </link>

    <link name="Untitled.085">
      <inertial>
        <origin xyz="0 0 0" rpy="0 0 0"/>
        <mass value="0.001"/>
        <inertia ixx="0.001" ixy="0" ixz="0" iyy="0.001" iyz="0" izz="0.001"/>
      </inertial>
      <visual name="DC Motor.003">
        <origin xyz="0 0 0" rpy="0 0 0"/>
        <geometry>
          <mesh filename="DC Motor.stl" scale="0.00227 0.00227 0.00133"/>
        </geometry>
        <material name="Material.052"/>
      </visual>
    </link>

    <link name="Untitled.086">
      <inertial>
        <origin xyz="0 0 0" rpy="0 0 0"/>
        <mass value="0.001"/>
        <inertia ixx="0.001" ixy="0" ixz="0" iyy="0.001" iyz="0" izz="0.001"/>
      </inertial>
      <visual name="DC Motor">
        <origin xyz="0 0 0" rpy="0 0 0"/>
        <geometry>
          <mesh filename="DC Motor.stl" scale="0.00227 0.00227 0.00133"/>
        </geometry>
        <material name="Material.052"/>
      </visual>
    </link>

    <link name="Untitled.087">
      <inertial>
        <origin xyz="0 0 0" rpy="0 0 0"/>
        <mass value="0.001"/>
        <inertia ixx="0.001" ixy="0" ixz="0" iyy="0.001" iyz="0" izz="0.001"/>
      </inertial>
      <visual name="DC Motor.001">
        <origin xyz="0 0 0" rpy="0 0 0"/>
        <geometry>
          <mesh filename="DC Motor.stl" scale="0.00227 0.00227 0.00133"/>
        </geometry>
        <material name="Material.052"/>
      </visual>
    </link>

    <link name="Untitled.088">
      <inertial>
        <origin xyz="0 0 0" rpy="0 0 0"/>
        <mass value="0.001"/>
        <inertia ixx="0.001" ixy="0" ixz="0" iyy="0.001" iyz="0" izz="0.001"/>
      </inertial>
      <visual name="DC Motor.002">
        <origin xyz="0 0 0" rpy="0 0 0"/>
        <geometry>
          <mesh filename="DC Motor.stl" scale="0.00227 0.00227 0.00133"/>
        </geometry>
        <material name="Material.052"/>
      </visual>
    </link>

    <link name="Untitled.089">
      <inertial>
        <origin xyz="0 0 0" rpy="0 0 0"/>
        <mass value="0.001"/>
        <inertia ixx="0.001" ixy="0" ixz="0" iyy="0.001" iyz="0" izz="0.001"/>
      </inertial>
      <visual name="DC Motor.007">
        <origin xyz="0 0 0" rpy="0 0 0"/>
        <geometry>
          <mesh filename="DC Motor.stl" scale="0.00227 0.00227 0.00133"/>
        </geometry>
        <material name="Material.052"/>
      </visual>
    </link>

    <link name="Untitled.090">
      <inertial>
        <origin xyz="0 0 0" rpy="0 0 0"/>
        <mass value="0.001"/>
        <inertia ixx="0.001" ixy="0" ixz="0" iyy="0.001" iyz="0" izz="0.001"/>
      </inertial>
      <visual name="DC Motor.004">
        <origin xyz="0 0 0" rpy="0 0 0"/>
        <geometry>
          <mesh filename="DC Motor.stl" scale="0.00227 0.00227 0.00133"/>
        </geometry>
        <material name="Material.052"/>
      </visual>
    </link>

    <link name="Untitled.091">
      <inertial>
        <origin xyz="0 0 0" rpy="0 0 0"/>
        <mass value="0.001"/>
        <inertia ixx="0.001" ixy="0" ixz="0" iyy="0.001" iyz="0" izz="0.001"/>
      </inertial>
      <visual name="DC Motor.005">
        <origin xyz="0 0 0" rpy="0 0 0"/>
        <geometry>
          <mesh filename="DC Motor.stl" scale="0.00227 0.00227 0.00133"/>
        </geometry>
        <material name="Material.052"/>
      </visual>
    </link>

    <link name="Untitled.092">
      <inertial>
        <origin xyz="0 0 0" rpy="0 0 0"/>
        <mass value="0.001"/>
        <inertia ixx="0.001" ixy="0" ixz="0" iyy="0.001" iyz="0" izz="0.001"/>
      </inertial>
      <visual name="DC Motor.006">
        <origin xyz="0 0 0" rpy="0 0 0"/>
        <geometry>
          <mesh filename="DC Motor.stl" scale="0.00227 0.00227 0.00133"/>
        </geometry>
        <material name="Material.052"/>
      </visual>
    </link>

    <link name="Untitled.093">
      <inertial>
        <origin xyz="0 0 0" rpy="0 0 0"/>
        <mass value="0.001"/>
        <inertia ixx="0.001" ixy="0" ixz="0" iyy="0.001" iyz="0" izz="0.001"/>
      </inertial>
      <visual name="NEMA 17.001">
        <origin xyz="0 0 0" rpy="0 0 0"/>
        <geometry>
          <mesh filename="NEMA 17.001.stl" scale="0.00099 0.00099 0.00059"/>
        </geometry>
        <material name="Material.048"/>
      </visual>
    </link>

    <link name="Untitled.094">
      <inertial>
        <origin xyz="0 0 0" rpy="0 0 0"/>
        <mass value="0.001"/>
        <inertia ixx="0.001" ixy="0" ixz="0" iyy="0.001" iyz="0" izz="0.001"/>
      </inertial>
      <visual name="NEMA 17.002">
        <origin xyz="0 0 0" rpy="0 0 0"/>
        <geometry>
          <mesh filename="NEMA 17.002.stl" scale="0.00099 0.00099 0.00059"/>
        </geometry>
        <material name="Material.049"/>
      </visual>
    </link>

    <link name="Untitled.095">
      <inertial>
        <origin xyz="0 0 0" rpy="0 0 0"/>
        <mass value="0.001"/>
        <inertia ixx="0.001" ixy="0" ixz="0" iyy="0.001" iyz="0" izz="0.001"/>
      </inertial>
      <visual name="16gear">
        <origin xyz="0 0 0" rpy="0 0 0"/>
        <geometry>
          <mesh filename="16gear.stl" scale="0.00053 0.00053 0.001"/>
        </geometry>
      </visual>
    </link>

    <link name="Untitled.096">
      <inertial>
        <origin xyz="0 0 0" rpy="0 0 0"/>
        <mass value="0.001"/>
        <inertia ixx="0.001" ixy="0" ixz="0" iyy="0.001" iyz="0" izz="0.001"/>
      </inertial>
      <visual name="rack">
        <origin xyz="-0.15 0 0" rpy="0 0 0"/>
        <geometry>
          <mesh filename="rack.stl" scale="0.00089 0.00136 0.004"/>
        </geometry>
        <material name="Material.050"/>
      </visual>
    </link>

    <link name="Untitled.097">
      <inertial>
        <origin xyz="0 0 0" rpy="0 0 0"/>
        <mass value="0.001"/>
        <inertia ixx="0.001" ixy="0" ixz="0" iyy="0.001" iyz="0" izz="0.001"/>
      </inertial>
      <visual name="bl Link.002.002">
        <origin xyz="0 -0.0024 0.005" rpy="0 3.14159 0"/>
        <geometry>
          <mesh filename="Cylinder.003.stl" scale="0.77778 0.77778 1.0"/>
        </geometry>
        <material name="Material.001"/>
      </visual>
    </link>

    <link name="Untitled.098">
      <inertial>
        <origin xyz="0 0 0" rpy="0 0 0"/>
        <mass value="0.001"/>
        <inertia ixx="0.001" ixy="0" ixz="0" iyy="0.001" iyz="0" izz="0.001"/>
      </inertial>
      <visual name="bl Link.002.005">
        <origin xyz="0 -0.0024 -0.005" rpy="0 0 0"/>
        <geometry>
          <mesh filename="Cylinder.003.stl" scale="0.77778 0.77778 1.0"/>
        </geometry>
        <material name="Material.001"/>
      </visual>
    </link>

    <link name="Untitled.099">
      <inertial>
        <origin xyz="0 0 0" rpy="0 0 0"/>
        <mass value="0.001"/>
        <inertia ixx="0.001" ixy="0" ixz="0" iyy="0.001" iyz="0" izz="0.001"/>
      </inertial>
      <visual name="bl Link.002.004">
        <origin xyz="0 -0.0024 0.005" rpy="0 3.14159 0"/>
        <geometry>
          <mesh filename="Cylinder.003.stl" scale="0.77778 0.77778 1.0"/>
        </geometry>
        <material name="Material.001"/>
      </visual>
    </link>

    <link name="Untitled.100">
      <inertial>
        <origin xyz="0 0 0" rpy="0 0 0"/>
        <mass value="0.001"/>
        <inertia ixx="0.001" ixy="0" ixz="0" iyy="0.001" iyz="0" izz="0.001"/>
      </inertial>
      <visual name="bl Link.002.003">
        <origin xyz="0 -0.0024 0.005" rpy="0 0 0"/>
        <geometry>
          <mesh filename="Cylinder.003.stl" scale="0.77778 0.77778 1.0"/>
        </geometry>
        <material name="Material.001"/>
      </visual>
    </link>

    <link name="Untitled.101">
      <inertial>
        <origin xyz="0 0 0" rpy="0 0 0"/>
        <mass value="0.001"/>
        <inertia ixx="0.001" ixy="0" ixz="0" iyy="0.001" iyz="0" izz="0.001"/>
      </inertial>
      <visual name="motoreducteur">
        <origin xyz="0 0 0" rpy="0 0 0"/>
        <geometry>
          <mesh filename="motoreducteur.stl" scale="0.00114 0.00446 0.00157"/>
        </geometry>
        <material name="Material.023"/>
      </visual>
    </link>

    <link name="Untitled.102">
      <inertial>
        <origin xyz="0 0 0" rpy="0 0 0"/>
        <mass value="0.001"/>
        <inertia ixx="0.001" ixy="0" ixz="0" iyy="0.001" iyz="0" izz="0.001"/>
      </inertial>
      <visual name="Cylinder.014">
        <origin xyz="0.03 0 0" rpy="0 0 0"/>
        <geometry>
          <cylinder radius="0.005" length="0.23"/>
        </geometry>
        <material name="Material.024"/>
      </visual>
    </link>

    <link name="Untitled.104">
      <inertial>
        <origin xyz="0 0 0" rpy="0 0 0"/>
        <mass value="0.001"/>
        <inertia ixx="0.001" ixy="0" ixz="0" iyy="0.001" iyz="0" izz="0.001"/>
      </inertial>
      <visual name="motoreducteur.001">
        <origin xyz="0 0 0" rpy="0 0 0"/>
        <geometry>
          <mesh filename="motoreducteur.stl" scale="0.00114 0.00446 0.00157"/>
        </geometry>
        <material name="Material.023"/>
      </visual>
    </link>

    <link name="Untitled.105">
      <inertial>
        <origin xyz="0 0 0" rpy="0 0 0"/>
        <mass value="0.001"/>
        <inertia ixx="0.001" ixy="0" ixz="0" iyy="0.001" iyz="0" izz="0.001"/>
      </inertial>
      <visual name="Cylinder.015">
        <origin xyz="0.03 0 0" rpy="0 0 0"/>
        <geometry>
          <cylinder radius="0.005" length="0.23"/>
        </geometry>
        <material name="Material.024"/>
      </visual>
    </link>

    <link name="Untitled.106">
      <inertial>
        <origin xyz="0 0 0" rpy="0 0 0"/>
        <mass value="0.001"/>
        <inertia ixx="0.001" ixy="0" ixz="0" iyy="0.001" iyz="0" izz="0.001"/>
      </inertial>
      <visual name="L bracket.015">
        <origin xyz="-0.025 0 0" rpy="0 0 0"/>
        <geometry>
          <mesh filename="L bracket.stl" scale="0.00116 0.0016 0.00167"/>
        </geometry>
        <material name="Material.051"/>
      </visual>
    </link>

    <link name="Untitled.107">
      <inertial>
        <origin xyz="0 0 0" rpy="0 0 0"/>
        <mass value="0.001"/>
        <inertia ixx="0.001" ixy="0" ixz="0" iyy="0.001" iyz="0" izz="0.001"/>
      </inertial>
      <visual name="L bracket.012">
        <origin xyz="0 0 -0.03" rpy="0 0 0"/>
        <geometry>
          <mesh filename="L bracket.stl" scale="0.00116 0.0016 0.00167"/>
        </geometry>
        <material name="Material.051"/>
      </visual>
    </link>

    <link name="Untitled.108">
      <inertial>
        <origin xyz="0 0 0" rpy="0 0 0"/>
        <mass value="0.001"/>
        <inertia ixx="0.001" ixy="0" ixz="0" iyy="0.001" iyz="0" izz="0.001"/>
      </inertial>
      <visual name="L bracket.013">
        <origin xyz="0.02 0 0" rpy="0 0 0"/>
        <geometry>
          <mesh filename="L bracket.stl" scale="0.00116 0.0016 0.00167"/>
        </geometry>
        <material name="Material.051"/>
      </visual>
    </link>

    <link name="Untitled.109">
      <inertial>
        <origin xyz="0 0 0" rpy="0 0 0"/>
        <mass value="0.001"/>
        <inertia ixx="0.001" ixy="0" ixz="0" iyy="0.001" iyz="0" izz="0.001"/>
      </inertial>
      <visual name="L bracket.014">
        <origin xyz="0 0 0.02367" rpy="0 0 0"/>
        <geometry>
          <mesh filename="L bracket.stl" scale="0.00116 0.0016 0.00167"/>
        </geometry>
        <material name="Material.051"/>
      </visual>
    </link>

    <link name="Untitled.110">
      <inertial>
        <origin xyz="0 0 0" rpy="0 0 0"/>
        <mass value="0.2"/>
        <inertia ixx="2e-05" ixy="0" ixz="0" iyy="2e-05" iyz="0" izz="2e-05"/>
      </inertial>
      <visual name="Cube.016">
        <origin xyz="0 0 0" rpy="0 0 0"/>
        <geometry>
          <box size="0.23 0.1 0.06"/>
        </geometry>
        <material name="Material.021"/>
      </visual>
      <visual name="vertical rod">
        <origin xyz="0.16779 0.00101 -1.52241" rpy="1.5708 0 0"/>
        <geometry>
          <mesh filename="vertical rod.004.stl" scale="1.0 1.0 1.0"/>
        </geometry>
        <material name="Material.022"/>
      </visual>
      <visual name="vertical rod.001">
        <origin xyz="-0.16721 0.00101 -1.52241" rpy="1.5708 0 0"/>
        <geometry>
          <mesh filename="vertical rod.004.stl" scale="1.0 1.0 1.0"/>
        </geometry>
        <material name="Material.022"/>
      </visual>
      <collision name="Cube.016">
        <origin xyz="0 0 0" rpy="0 0 0"/>
        <geometry>
          <box size="0.23 0.1 0.06"/>
        </geometry>
      </collision>
      <collision name="vertical rod.000.001">
        <origin xyz="0.16779 0.00101 -1.52241" rpy="1.5708 0 0"/>
        <geometry>
          <mesh filename="vertical rod.008.stl" scale="1.0 1.0 1.0"/>
        </geometry>
      </collision>
      <collision name="vertical rod.001.000.001">
        <origin xyz="-0.16721 0.00101 -1.52241" rpy="1.5708 0 0"/>
        <geometry>
          <mesh filename="vertical rod.007.stl" scale="1.0 1.0 1.0"/>
        </geometry>
      </collision>
    </link>

    <link name="Untitled.111">
      <inertial>
        <origin xyz="0 0 0" rpy="0 0 0"/>
        <mass value="0.2"/>
        <inertia ixx="2e-05" ixy="0" ixz="0" iyy="2e-05" iyz="0" izz="2e-05"/>
      </inertial>
      <visual name="Cube.017">
        <origin xyz="0 0 0" rpy="0 0 0"/>
        <geometry>
          <box size="0.23 0.1 0.06"/>
        </geometry>
        <material name="Material.021"/>
      </visual>
      <visual name="vertical rod.002">
        <origin xyz="-0.16721 0.00101 -1.52241" rpy="1.5708 0 0"/>
        <geometry>
          <mesh filename="vertical rod.004.stl" scale="1.0 1.0 1.0"/>
        </geometry>
        <material name="Material.022"/>
      </visual>
      <visual name="vertical rod.003">
        <origin xyz="0.16779 0.00101 -1.52241" rpy="1.5708 0 0"/>
        <geometry>
          <mesh filename="vertical rod.004.stl" scale="1.0 1.0 1.0"/>
        </geometry>
        <material name="Material.022"/>
      </visual>
      <collision name="Cube.017">
        <origin xyz="0 0 0.01" rpy="0 0 0"/>
        <geometry>
          <box size="0.23 0.1 0.05"/>
        </geometry>
      </collision>
      <collision name="vertical rod.002.000">
        <origin xyz="-0.16721 0.00101 -0.75241" rpy="1.5708 0 0"/>
        <geometry>
          <mesh filename="vertical rod.006.stl" scale="1.0 1.0 1.0"/>
        </geometry>
      </collision>
      <collision name="vertical rod.003.000">
        <origin xyz="0.16779 0.00101 -1.52241" rpy="1.5708 0 0"/>
        <geometry>
          <mesh filename="vertical rod.005.stl" scale="1.0 1.0 1.0"/>
        </geometry>
      </collision>
    </link>

    <link name="Untitled.112">
      <inertial>
        <origin xyz="0 0 0" rpy="0 0 0"/>
        <mass value="0.001"/>
        <inertia ixx="0.001" ixy="0" ixz="0" iyy="0.001" iyz="0" izz="0.001"/>
      </inertial>
      <visual name="Cube.018">
        <origin xyz="0 0 0" rpy="0 0 0"/>
        <geometry>
          <box size="0.03 0.1 0.12"/>
        </geometry>
        <material name="Material.028"/>
      </visual>
    </link>

    <link name="Untitled.113">
      <inertial>
        <origin xyz="0 0 0" rpy="0 0 0"/>
        <mass value="0.001"/>
        <inertia ixx="0.001" ixy="0" ixz="0" iyy="0.001" iyz="0" izz="0.001"/>
      </inertial>
      <visual name="Cube.019">
        <origin xyz="0.05 0 0" rpy="0 0 0"/>
        <geometry>
          <box size="0.23 0.23 0.01"/>
        </geometry>
        <material name="Material.029"/>
      </visual>
    </link>

    <link name="Untitled.114">
      <inertial>
        <origin xyz="0 0 0" rpy="0 0 0"/>
        <mass value="0.001"/>
        <inertia ixx="0.001" ixy="0" ixz="0" iyy="0.001" iyz="0" izz="0.001"/>
      </inertial>
      <visual name="Aruco">
        <origin xyz="0 0 0" rpy="0 0 0"/>
        <geometry>
          <mesh filename="Aruco.stl" scale="0.0032 0.002 0.0032"/>
        </geometry>
        <material name="Material.031"/>
      </visual>
    </link>

    <link name="Untitled.115">
      <inertial>
        <origin xyz="0 0 0" rpy="0 0 0"/>
        <mass value="0.001"/>
        <inertia ixx="0.001" ixy="0" ixz="0" iyy="0.001" iyz="0" izz="0.001"/>
      </inertial>
      <visual name="Cube.020">
        <origin xyz="0 0 0" rpy="0 0 0"/>
        <geometry>
          <box size="0.04 0.07 0.005"/>
        </geometry>
        <material name="Material.043"/>
      </visual>
    </link>

    <link name="Untitled.116">
      <inertial>
        <origin xyz="0 0 0" rpy="0 0 0"/>
        <mass value="0.001"/>
        <inertia ixx="0.001" ixy="0" ixz="0" iyy="0.001" iyz="0" izz="0.001"/>
      </inertial>
      <visual name="Cube.021">
        <origin xyz="0 0 -0.07" rpy="0 0 0"/>
        <geometry>
          <box size="0.2 0.01 0.2"/>
        </geometry>
        <material name="Material.044"/>
      </visual>
    </link>

    <link name="Untitled.117">
      <inertial>
        <origin xyz="0 0 0" rpy="0 0 0"/>
        <mass value="0.001"/>
        <inertia ixx="0.001" ixy="0" ixz="0" iyy="0.001" iyz="0" izz="0.001"/>
      </inertial>
      <visual name="Aruco.001">
        <origin xyz="0 -0.05 0" rpy="0 0 0"/>
        <geometry>
          <mesh filename="Aruco.001.stl" scale="0.0028 0.002 0.0028"/>
        </geometry>
        <material name="Material.045"/>
      </visual>
    </link>

    <joint name="Untitled" type="fixed">
      <origin xyz="-0.11 0.06 0" rpy="1.5708 0 0"/>
      <parent link="Untitled.004"/>
      <child link="Untitled"/>
    </joint>

    <joint name="Untitled.001" type="fixed">
      <origin xyz="-0.11 -0.06 0" rpy="-1.5708 0 0"/>
      <parent link="Untitled.004"/>
      <child link="Untitled.001"/>
    </joint>

    <joint name="Untitled.002" type="fixed">
      <origin xyz="0.11 0.06 0" rpy="1.5708 0 0"/>
      <parent link="Untitled.004"/>
      <child link="Untitled.002"/>
    </joint>

    <joint name="Untitled.003" type="fixed">
      <origin xyz="0.11 -0.06 0" rpy="-1.5708 0 0"/>
      <parent link="Untitled.004"/>
      <child link="Untitled.003"/>
    </joint>

    <joint name="Untitled.004" type="fixed">
      <origin xyz="0.00279 0.00101 -1.57241" rpy="0 0 0"/>
      <parent link="Untitled.110"/>
      <child link="Untitled.004"/>
    </joint>

    <joint name="Untitled.005" type="continuous">
      <origin xyz="0.04 0 -0.07" rpy="3.14159 0 0"/>
      <parent link="Untitled.002"/>
      <child link="Untitled.005"/>
      <axis xyz="0 0 1.0"/>
      <limit effort="0.1" velocity="1.5"/>
    </joint>

    <joint name="Untitled.006" type="continuous">
      <origin xyz="-0.04 0 -0.07" rpy="3.14159 0 0"/>
      <parent link="Untitled"/>
      <child link="Untitled.006"/>
      <axis xyz="0 0 1.0"/>
      <limit effort="0.1" velocity="1.5"/>
    </joint>

    <joint name="Untitled.007" type="continuous">
      <origin xyz="-0.04 0 -0.07" rpy="-3.14159 0 0"/>
      <parent link="Untitled.001"/>
      <child link="Untitled.007"/>
      <axis xyz="0 0 1.0"/>
      <limit effort="0.1" velocity="1.5"/>
    </joint>

    <joint name="Untitled.008" type="continuous">
      <origin xyz="0.04 0 -0.07" rpy="-3.14159 0 0"/>
      <parent link="Untitled.003"/>
      <child link="Untitled.008"/>
      <axis xyz="0 0 1.0"/>
      <limit effort="0.1" velocity="1.5"/>
    </joint>

    <joint name="Untitled.009" type="fixed">
      <origin xyz="0.00279 -0.00399 -1.56" rpy="0 0 0"/>
      <parent link="Untitled.111"/>
      <child link="Untitled.009"/>
    </joint>

    <joint name="Untitled.010" type="fixed">
      <origin xyz="-0.11 -0.06 0" rpy="-1.5708 0 0"/>
      <parent link="Untitled.009"/>
      <child link="Untitled.010"/>
    </joint>

    <joint name="Untitled.011" type="continuous">
      <origin xyz="-0.04 0 -0.07" rpy="-3.14159 0 0"/>
      <parent link="Untitled.010"/>
      <child link="Untitled.011"/>
      <axis xyz="0 0 1.0"/>
      <limit effort="0.1" velocity="1.5"/>
    </joint>

    <joint name="Untitled.012" type="fixed">
      <origin xyz="-0.11 0.06 0" rpy="1.5708 0 0"/>
      <parent link="Untitled.009"/>
      <child link="Untitled.012"/>
    </joint>

    <joint name="Untitled.013" type="fixed">
      <origin xyz="0 0 0.055" rpy="0 0 0"/>
      <parent link="Untitled.053"/>
      <child link="Untitled.013"/>
    </joint>

    <joint name="Untitled.014" type="fixed">
      <origin xyz="0.11 0.06 0" rpy="1.5708 0 0"/>
      <parent link="Untitled.009"/>
      <child link="Untitled.014"/>
    </joint>

    <joint name="Untitled.015" type="continuous">
      <origin xyz="0.04 0 -0.07" rpy="3.14159 0 0"/>
      <parent link="Untitled.014"/>
      <child link="Untitled.015"/>
      <axis xyz="0 0 1.0"/>
      <limit effort="0.1" velocity="1.5"/>
    </joint>

    <joint name="Untitled.016" type="fixed">
      <origin xyz="0.11 -0.06 0" rpy="-1.5708 0 0"/>
      <parent link="Untitled.009"/>
      <child link="Untitled.016"/>
    </joint>

    <joint name="Untitled.017" type="continuous">
      <origin xyz="0.04 0 -0.07" rpy="-3.14159 0 0"/>
      <parent link="Untitled.016"/>
      <child link="Untitled.017"/>
      <axis xyz="0 0 1.0"/>
      <limit effort="0.1" velocity="1.5"/>
    </joint>

    <joint name="Untitled.018" type="fixed">
      <origin xyz="0 0.04 -0.04" rpy="0 0 0"/>
      <parent link="Untitled.047"/>
      <child link="Untitled.018"/>
    </joint>

    <joint name="Untitled.019" type="prismatic">
      <origin xyz="0 0 -0.01039" rpy="0 0 0"/>
      <parent link="Untitled.018"/>
      <child link="Untitled.019"/>
      <axis xyz="0 0 1.0"/>
      <limit lower="-1.6" upper="1.6" effort="0.01" velocity="0.1"/>
    </joint>

    <joint name="Untitled.020" type="fixed">
      <origin xyz="0 -0.00117 -0.05884" rpy="0 0 0"/>
      <parent link="Untitled.019"/>
      <child link="Untitled.020"/>
    </joint>

    <joint name="Untitled.021" type="fixed">
      <origin xyz="0.06656 -0.00819 -0.00718" rpy="0 0 0"/>
      <parent link="Untitled.024"/>
      <child link="Untitled.021"/>
    </joint>

    <joint name="Untitled.022" type="fixed">
      <origin xyz="-0.06 -0.05371 0" rpy="-1.5708 0 0"/>
      <parent link="Untitled.026"/>
      <child link="Untitled.022"/>
    </joint>

    <joint name="Untitled.023" type="fixed">
      <origin xyz="0.06 -0.05371 0" rpy="-1.5708 0 0"/>
      <parent link="Untitled.026"/>
      <child link="Untitled.023"/>
    </joint>

    <joint name="Untitled.024" type="fixed">
      <origin xyz="-0.00656 0.00819 -0.03142" rpy="0 0 0"/>
      <parent link="Untitled.022"/>
      <child link="Untitled.024"/>
    </joint>

    <joint name="Untitled.025" type="fixed">
      <origin xyz="0.00237 -0.00899 -0.03609" rpy="0 0 0"/>
      <parent link="Untitled.023"/>
      <child link="Untitled.025"/>
    </joint>

    <joint name="Untitled.026" type="prismatic">
      <origin xyz="0.025 0 0.04555" rpy="1.5708 0 -1.5708"/>
      <parent link="Untitled.052"/>
      <child link="Untitled.026"/>
      <axis xyz="0 0 1.0"/>
      <limit lower="-1.2931" upper="1.29" effort="0.1" velocity="1.0"/>
    </joint>

    <joint name="Untitled.027" type="fixed">
      <origin xyz="0.00656 -0.00819 -0.15126" rpy="0 0 0"/>
      <parent link="Untitled.024"/>
      <child link="Untitled.027"/>
    </joint>

    <joint name="Untitled.028" type="prismatic">
      <origin xyz="0 0 -0.02468" rpy="0 0 0"/>
      <parent link="Untitled.027"/>
      <child link="Untitled.028"/>
      <axis xyz="0 0 1.0"/>
      <limit lower="-1.2931" upper="1.29" effort="0.1" velocity="1.0"/>
    </joint>

    <joint name="Untitled.029" type="fixed">
      <origin xyz="0.01 0 -0.12848" rpy="0 0 0"/>
      <parent link="Untitled.028"/>
      <child link="Untitled.029"/>
    </joint>

    <joint name="Untitled.030" type="fixed">
      <origin xyz="0.05 0 0.14075" rpy="0 0 0"/>
      <parent link="Untitled.029"/>
      <child link="Untitled.030"/>
    </joint>

    <joint name="Untitled.031" type="prismatic">
      <origin xyz="0 0 -0.02247" rpy="0 0 0"/>
      <parent link="Untitled.030"/>
      <child link="Untitled.031"/>
      <axis xyz="0 0 1.0"/>
      <limit lower="-1.2931" upper="1.29" effort="0.1" velocity="1.0"/>
    </joint>

    <joint name="Untitled.032" type="fixed">
      <origin xyz="0.00738 0.0014 -0.1528" rpy="0 0 0"/>
      <parent link="Untitled.031"/>
      <child link="Untitled.032"/>
    </joint>

    <joint name="Untitled.033" type="fixed">
      <origin xyz="0.05262 -0.0014 0.13993" rpy="0 0 0"/>
      <parent link="Untitled.032"/>
      <child link="Untitled.033"/>
    </joint>

    <joint name="Untitled.034" type="prismatic">
      <origin xyz="0 0 -0.01" rpy="0 0 0"/>
      <parent link="Untitled.033"/>
      <child link="Untitled.034"/>
      <axis xyz="0 0 1.0"/>
      <limit lower="-1.2931" upper="1.29" effort="0.1" velocity="1.0"/>
    </joint>

    <joint name="Untitled.035" type="fixed">
      <origin xyz="0.00989 -0.00047 -0.15397" rpy="0 0 0"/>
      <parent link="Untitled.034"/>
      <child link="Untitled.035"/>
    </joint>

    <joint name="Untitled.036" type="continuous">
      <origin xyz="-0.00332 0.00214 -0.04292" rpy="0 0 0"/>
      <parent link="Untitled.035"/>
      <child link="Untitled.036"/>
      <axis xyz="0 0 1.0"/>
      <limit effort="0.1" velocity="1.0"/>
    </joint>

    <joint name="Untitled.037" type="fixed">
      <origin xyz="0 -0.0625 -0.09126" rpy="1.5708 0 0"/>
      <parent link="Untitled.036"/>
      <child link="Untitled.037"/>
    </joint>

    <joint name="Untitled.038" type="prismatic">
      <origin xyz="0 0.0825 -0.09126" rpy="1.5708 0 0"/>
      <parent link="Untitled.036"/>
      <child link="Untitled.038"/>
      <axis xyz="0 0 1.0"/>
      <limit lower="-1.6" upper="1.6" effort="0.1" velocity="0.05"/>
    </joint>

    <joint name="Untitled.039" type="fixed">
      <origin xyz="-0.175 0.03 0.0476" rpy="1.5708 0 1.5708"/>
      <parent link="Untitled.009"/>
      <child link="Untitled.039"/>
    </joint>

    <joint name="Untitled.040" type="fixed">
      <origin xyz="-0.195 -0.02 0.0476" rpy="1.5708 0 -3.14159"/>
      <parent link="Untitled.009"/>
      <child link="Untitled.040"/>
    </joint>

    <joint name="Untitled.041" type="fixed">
      <origin xyz="0.04032 -0.00214 -0.00337" rpy="0 0 0"/>
      <parent link="Untitled.036"/>
      <child link="Untitled.041"/>
    </joint>

    <joint name="Untitled.042" type="revolute">
      <origin xyz="0.03 0.01 0.00027" rpy="1.5708 0 0"/>
      <parent link="Untitled.041"/>
      <child link="Untitled.042"/>
      <axis xyz="0 0 1.0"/>
      <limit lower="-1.57" upper="0" effort="0.01" velocity="0.1"/>
    </joint>

    <joint name="Untitled.043" type="fixed">
      <origin xyz="0.002 0 0.02" rpy="-1.5708 0 -1.5708"/>
      <parent link="Untitled.042"/>
      <child link="Untitled.043"/>
    </joint>

    <joint name="Untitled.044" type="fixed">
      <origin xyz="0.002 0 0" rpy="-1.5708 0 -1.5708"/>
      <parent link="Untitled.042"/>
      <child link="Untitled.044"/>
    </joint>

    <joint name="Untitled.045" type="fixed">
      <origin xyz="0.19 0.03 0.0476" rpy="1.5708 0 0"/>
      <parent link="Untitled.009"/>
      <child link="Untitled.045"/>
    </joint>

    <joint name="Untitled.046" type="fixed">
      <origin xyz="0.19 -0.02 0.0476" rpy="1.5708 0 -1.5708"/>
      <parent link="Untitled.009"/>
      <child link="Untitled.046"/>
    </joint>

    <joint name="Untitled.047" type="fixed">
      <origin xyz="0 0.1 0" rpy="0 0 0"/>
      <parent link="Untitled.036"/>
      <child link="Untitled.047"/>
    </joint>

    <joint name="Untitled.048" type="fixed">
      <origin xyz="0.10668 -8e-05 0.01932" rpy="0 0 0"/>
      <parent link="Untitled.110"/>
      <child link="Untitled.048"/>
    </joint>

    <joint name="Untitled.049" type="fixed">
      <origin xyz="0.00415 -0.00265 0.05003" rpy="0 0 0"/>
      <parent link="Untitled.048"/>
      <child link="Untitled.049"/>
    </joint>

    <joint name="Untitled.050" type="fixed">
      <origin xyz="0.15 -0.02 0.0476" rpy="1.5708 0 -3.14159"/>
      <parent link="Untitled.009"/>
      <child link="Untitled.050"/>
    </joint>

    <joint name="Untitled.051" type="fixed">
      <origin xyz="0.14 0.03 0.0476" rpy="1.5708 0 1.5708"/>
      <parent link="Untitled.009"/>
      <child link="Untitled.051"/>
    </joint>

    <joint name="Untitled.053" type="fixed">
      <origin xyz="-0.02833 0 0.05969" rpy="0 -1.5708 0"/>
      <parent link="Untitled.049"/>
      <child link="Untitled.053"/>
    </joint>

    <joint name="Untitled.054" type="continuous">
      <origin xyz="-0.04 0 -0.07" rpy="3.14159 0 0"/>
      <parent link="Untitled.012"/>
      <child link="Untitled.054"/>
      <axis xyz="0 0 1.0"/>
      <limit effort="0.1" velocity="1.5"/>
    </joint>

    <joint name="Untitled.055" type="fixed">
      <origin xyz="0 0 0.08" rpy="0 3.14159 0"/>
      <parent link="Untitled.013"/>
      <child link="Untitled.055"/>
    </joint>

    <joint name="Untitled.056" type="fixed">
      <origin xyz="0.05 0 -0.04" rpy="0 -1.5708 0"/>
      <parent link="Untitled.055"/>
      <child link="Untitled.056"/>
    </joint>

    <joint name="Untitled.057" type="fixed">
      <origin xyz="-0.07251 -0.00274 0.02904" rpy="0 1.5708 0"/>
      <parent link="Untitled.110"/>
      <child link="Untitled.057"/>
    </joint>

    <joint name="Untitled.058" type="fixed">
      <origin xyz="-0.00145 1.25375 0.0247" rpy="3.14159 0 1.5708"/>
      <parent link="Untitled.013"/>
      <child link="Untitled.058"/>
    </joint>

    <joint name="Untitled.059" type="fixed">
      <origin xyz="0.05809 0.00726 -0.01033" rpy="0 1.5708 0"/>
      <parent link="Untitled.111"/>
      <child link="Untitled.059"/>
    </joint>

    <joint name="Untitled.060" type="fixed">
      <origin xyz="-0.04812 0 0.04" rpy="0 -1.5708 0"/>
      <parent link="Untitled.059"/>
      <child link="Untitled.060"/>
    </joint>

    <joint name="Untitled.061" type="fixed">
      <origin xyz="-0.04 0 0.05125" rpy="0 1.5708 0"/>
      <parent link="Untitled.060"/>
      <child link="Untitled.061"/>
    </joint>

    <joint name="Untitled.062" type="fixed">
      <origin xyz="0 0 0.0194" rpy="0 -3.14159 0"/>
      <parent link="Untitled.061"/>
      <child link="Untitled.062"/>
    </joint>

    <joint name="Untitled.063" type="fixed">
      <origin xyz="0 -0.00625 0.13" rpy="0 3.14159 0"/>
      <parent link="Untitled.062"/>
      <child link="Untitled.063"/>
    </joint>

    <joint name="Untitled.064" type="fixed">
      <origin xyz="0.05 0 -0.04" rpy="0 -1.5708 0"/>
      <parent link="Untitled.063"/>
      <child link="Untitled.064"/>
    </joint>

    <joint name="Untitled.065" type="fixed">
      <origin xyz="-0.05251 0.00101 -0.01107" rpy="0 1.5708 0"/>
      <parent link="Untitled.111"/>
      <child link="Untitled.065"/>
    </joint>

    <joint name="Untitled.073" type="fixed">
      <origin xyz="-0.145 -0.02 0.0476" rpy="1.5708 0 -1.5708"/>
      <parent link="Untitled.009"/>
      <child link="Untitled.073"/>
    </joint>

    <joint name="Untitled.074" type="fixed">
      <origin xyz="-0.15 0.03 0.0476" rpy="1.5708 0 0"/>
      <parent link="Untitled.009"/>
      <child link="Untitled.074"/>
    </joint>

    <joint name="Untitled.075" type="fixed">
      <origin xyz="-0.195 0.025 0.06" rpy="1.5708 0 1.5708"/>
      <parent link="Untitled.004"/>
      <child link="Untitled.075"/>
    </joint>

    <joint name="Untitled.076" type="fixed">
      <origin xyz="-0.195 -0.025 0.06" rpy="1.5708 0 -3.14159"/>
      <parent link="Untitled.004"/>
      <child link="Untitled.076"/>
    </joint>

    <joint name="Untitled.077" type="fixed">
      <origin xyz="-0.155 -0.025 0.06" rpy="1.5708 0 -1.5708"/>
      <parent link="Untitled.004"/>
      <child link="Untitled.077"/>
    </joint>

    <joint name="Untitled.078" type="fixed">
      <origin xyz="-0.15 0.025 0.06" rpy="1.5708 0 0"/>
      <parent link="Untitled.004"/>
      <child link="Untitled.078"/>
    </joint>

    <joint name="Untitled.079" type="fixed">
      <origin xyz="-0.00145 1.25375 0.0347" rpy="3.14159 0 1.5708"/>
      <parent link="Untitled.013"/>
      <child link="Untitled.079"/>
    </joint>

    <joint name="Untitled.080" type="fixed">
      <origin xyz="0.025 0 0.03113" rpy="0 0 0"/>
      <parent link="Untitled.029"/>
      <child link="Untitled.080"/>
    </joint>

    <joint name="Untitled.081" type="fixed">
      <origin xyz="0.02762 -0.0014 0.03161" rpy="0 0 0"/>
      <parent link="Untitled.032"/>
      <child link="Untitled.081"/>
    </joint>

    <joint name="Untitled.082" type="fixed">
      <origin xyz="0 -0.035 0.11744" rpy="0 0 0"/>
      <parent link="Untitled.027"/>
      <child link="Untitled.082"/>
    </joint>

    <joint name="Untitled.083" type="fixed">
      <origin xyz="0 -0.035 0.12198" rpy="0 0 0"/>
      <parent link="Untitled.030"/>
      <child link="Untitled.083"/>
    </joint>

    <joint name="Untitled.084" type="fixed">
      <origin xyz="0 -0.035 0.11828" rpy="0 0 0"/>
      <parent link="Untitled.033"/>
      <child link="Untitled.084"/>
    </joint>

    <joint name="Untitled.085" type="fixed">
      <origin xyz="0.05 0 -0.04" rpy="0 0 3.14159"/>
      <parent link="Untitled.003"/>
      <child link="Untitled.085"/>
    </joint>

    <joint name="Untitled.086" type="fixed">
      <origin xyz="0.03 0 -0.04" rpy="0 0 0"/>
      <parent link="Untitled.002"/>
      <child link="Untitled.086"/>
    </joint>

    <joint name="Untitled.087" type="fixed">
      <origin xyz="-0.05 0 -0.04" rpy="0 0 0"/>
      <parent link="Untitled"/>
      <child link="Untitled.087"/>
    </joint>

    <joint name="Untitled.088" type="fixed">
      <origin xyz="-0.03 0 -0.04" rpy="0 0 3.14159"/>
      <parent link="Untitled.001"/>
      <child link="Untitled.088"/>
    </joint>

    <joint name="Untitled.089" type="fixed">
      <origin xyz="0.04 0.0124 -0.035" rpy="0 0 3.14159"/>
      <parent link="Untitled.016"/>
      <child link="Untitled.089"/>
    </joint>

    <joint name="Untitled.090" type="fixed">
      <origin xyz="0.02 -0.0124 -0.045" rpy="0 0 0"/>
      <parent link="Untitled.014"/>
      <child link="Untitled.090"/>
    </joint>

    <joint name="Untitled.091" type="fixed">
      <origin xyz="-0.05 -0.0124 -0.045" rpy="0 0 0"/>
      <parent link="Untitled.012"/>
      <child link="Untitled.091"/>
    </joint>

    <joint name="Untitled.092" type="fixed">
      <origin xyz="-0.03 0.0124 -0.035" rpy="0 0 3.14159"/>
      <parent link="Untitled.010"/>
      <child link="Untitled.092"/>
    </joint>

    <joint name="Untitled.093" type="fixed">
      <origin xyz="0.01 -0.01 0.00115" rpy="0 0 0"/>
      <parent link="Untitled.036"/>
      <child link="Untitled.093"/>
    </joint>

    <joint name="Untitled.094" type="fixed">
      <origin xyz="-0.03 -0.04997 -0.03088" rpy="0 1.5708 0"/>
      <parent link="Untitled.036"/>
      <child link="Untitled.094"/>
    </joint>

    <joint name="Untitled.095" type="fixed">
      <origin xyz="-0.02003 -0.0025 0.03571" rpy="0 0 0"/>
      <parent link="Untitled.094"/>
      <child link="Untitled.095"/>
    </joint>

    <joint name="Untitled.096" type="fixed">
      <origin xyz="0 0.05168 0.0085" rpy="0 1.5708 0"/>
      <parent link="Untitled.038"/>
      <child link="Untitled.096"/>
    </joint>

    <joint name="Untitled.097" type="continuous">
      <origin xyz="-0.00259 0.125 0.0024" rpy="1.5708 0 -3.14159"/>
      <parent link="Untitled.004"/>
      <child link="Untitled.097"/>
      <axis xyz="0 0 1.0"/>
      <limit effort="0.01" velocity="0.1"/>
    </joint>

    <joint name="Untitled.098" type="continuous">
      <origin xyz="-0.00259 -0.135 0.0024" rpy="1.5708 0 0"/>
      <parent link="Untitled.004"/>
      <child link="Untitled.098"/>
      <axis xyz="0 0 1.0"/>
      <limit effort="0.01" velocity="0.1"/>
    </joint>

    <joint name="Untitled.099" type="continuous">
      <origin xyz="-0.0026 0.13 0" rpy="1.5708 0 -3.14159"/>
      <parent link="Untitled.009"/>
      <child link="Untitled.099"/>
      <axis xyz="0 0 1.0"/>
      <limit effort="0.01" velocity="0.1"/>
    </joint>

    <joint name="Untitled.100" type="continuous">
      <origin xyz="-0.0026 -0.13 0" rpy="1.5708 0 0"/>
      <parent link="Untitled.009"/>
      <child link="Untitled.100"/>
      <axis xyz="0 0 1.0"/>
      <limit effort="0.01" velocity="0.1"/>
    </joint>

    <joint name="Untitled.101" type="fixed">
      <origin xyz="-0.02 0.03 -0.05" rpy="1.5708 0 0"/>
      <parent link="Untitled.004"/>
      <child link="Untitled.101"/>
    </joint>

    <joint name="Untitled.102" type="fixed">
      <origin xyz="-0.01 0.05 0.03" rpy="0 0 0"/>
      <parent link="Untitled.101"/>
      <child link="Untitled.102"/>
    </joint>

    <joint name="Untitled.104" type="fixed">
      <origin xyz="-0.02 0.035 -0.0524" rpy="1.5708 0 0"/>
      <parent link="Untitled.009"/>
      <child link="Untitled.104"/>
    </joint>

    <joint name="Untitled.105" type="fixed">
      <origin xyz="-0.01 0.05 0.03" rpy="0 0 0"/>
      <parent link="Untitled.104"/>
      <child link="Untitled.105"/>
    </joint>

    <joint name="Untitled.106" type="fixed">
      <origin xyz="0.115 -0.025 0.06" rpy="1.5708 0 -3.14159"/>
      <parent link="Untitled.004"/>
      <child link="Untitled.106"/>
    </joint>

    <joint name="Untitled.107" type="fixed">
      <origin xyz="0.165 -0.025 0.06" rpy="1.5708 0 -1.5708"/>
      <parent link="Untitled.004"/>
      <child link="Untitled.107"/>
    </joint>

    <joint name="Untitled.108" type="fixed">
      <origin xyz="0.17 0.025 0.06" rpy="1.5708 0 0"/>
      <parent link="Untitled.004"/>
      <child link="Untitled.108"/>
    </joint>

    <joint name="Untitled.109" type="fixed">
      <origin xyz="0.11633 0.02712 0.06201" rpy="1.5708 0 1.5708"/>
      <parent link="Untitled.004"/>
      <child link="Untitled.109"/>
    </joint>

    <joint name="Untitled.110" type="fixed">
      <origin xyz="-1.25101 0.00279 -0.00759" rpy="0 0 -1.5708"/>
      <parent link="Untitled.052"/>
      <child link="Untitled.110"/>
    </joint>

    <joint name="Untitled.111" type="fixed">
      <origin xyz="1.24899 0.00279 -0.03241" rpy="0 0 -1.5708"/>
      <parent link="Untitled.052"/>
      <child link="Untitled.111"/>
    </joint>

    <joint name="Untitled.112" type="fixed">
      <origin xyz="0.01319 0 0.13722" rpy="0 0 0"/>
      <parent link="Untitled.022"/>
      <child link="Untitled.112"/>
    </joint>

    <joint name="Untitled.113" type="fixed">
      <origin xyz="-0.00319 0 0.06094" rpy="0 0 0"/>
      <parent link="Untitled.112"/>
      <child link="Untitled.113"/>
    </joint>

    <joint name="Untitled.114" type="fixed">
      <origin xyz="0.05 0 0.02" rpy="1.5708 0 0"/>
      <parent link="Untitled.113"/>
      <child link="Untitled.114"/>
    </joint>

    <joint name="Untitled.115" type="fixed">
      <origin xyz="0 -0.05553 0.00324" rpy="0 0 0"/>
      <parent link="Untitled.035"/>
      <child link="Untitled.115"/>
    </joint>

    <joint name="Untitled.116" type="fixed">
      <origin xyz="0 -0.039 -0.00345" rpy="0 0 0"/>
      <parent link="Untitled.115"/>
      <child link="Untitled.116"/>
    </joint>

    <joint name="Untitled.117" type="fixed">
      <origin xyz="0 -0.025 -0.07" rpy="0 0 0"/>
      <parent link="Untitled.116"/>
      <child link="Untitled.117"/>
    </joint>

    <material name="Material.001">
      <color rgba="0 0 0 1.0"/>
    </material>

    <material name="Material.002">
      <color rgba="0 0 0 1.0"/>
    </material>

    <material name="Material.003">
      <color rgba="0 0 0 1.0"/>
    </material>

    <material name="Material.004">
      <color rgba="0 0 0 1.0"/>
    </material>

    <material name="Material.005">
      <color rgba="0.64 0.64 0.64 1.0"/>
    </material>

    <material name="Material.006">
      <color rgba="0.08 0.08 0.08 1.0"/>
    </material>

    <material name="Material.007">
      <color rgba="0.64 0.64 0.64 1.0"/>
    </material>

    <material name="Material.008">
      <color rgba="0 0 0 1.0"/>
    </material>

    <material name="Material.009">
      <color rgba="0 0 0 1.0"/>
    </material>

    <material name="Material.010">
      <color rgba="0 0 0 1.0"/>
    </material>

    <material name="Material.011">
      <color rgba="0.64 0.64 0.64 1.0"/>
    </material>

    <material name="Material.012">
      <color rgba="0.16 0.16 0.16 1.0"/>
    </material>

    <material name="Material.013">
      <color rgba="0.16 0.16 0.16 1.0"/>
    </material>

    <material name="Material.014">
      <color rgba="0.64 0.64 0.64 1.0"/>
    </material>

    <material name="Material.015">
      <color rgba="0.16 0.16 0.16 1.0"/>
    </material>

    <material name="Material.016">
      <color rgba="0.16 0.16 0.16 1.0"/>
    </material>

    <material name="Material.017">
      <color rgba="0.64 0.64 0.64 1.0"/>
    </material>

    <material name="Material.018">
      <color rgba="0.16 0.16 0.16 1.0"/>
    </material>

    <material name="Material.019">
      <color rgba="0.16 0.16 0.16 1.0"/>
    </material>

    <material name="Material.020">
      <color rgba="0.64 0.64 0.64 1.0"/>
    </material>

    <material name="Material.021">
      <color rgba="0.64 0.64 0.64 1.0"/>
    </material>

    <material name="Material.022">
      <color rgba="0.64 0.64 0.64 1.0"/>
    </material>

    <material name="Material.023">
      <color rgba="0.64 0.64 0.64 1.0"/>
    </material>

    <material name="Material.024">
      <color rgba="0.16 0.16 0.16 1.0"/>
    </material>

    <material name="Material.025">
      <color rgba="0.64 0.64 0.64 1.0"/>
    </material>

    <material name="Material.026">
      <color rgba="0.09 0.09 0.09 1.0"/>
    </material>

    <material name="Material.027">
      <color rgba="0.76 0.76 0.76 1.0"/>
    </material>

    <material name="Material.028">
      <color rgba="0 0 0 1.0"/>
    </material>

    <material name="Material.029">
      <color rgba="1.0 1.0 1.0 1.0"/>
    </material>

    <material name="Material.030">
      <color rgba="0.64 0.64 0.64 1.0"/>
    </material>

    <material name="Material.031">
      <color rgba="0 0 0 1.0"/>
    </material>

    <material name="Material.032">
      <color rgba="0 0 0 1.0"/>
    </material>

    <material name="Material.033">
      <color rgba="0.16 0.16 0.16 1.0"/>
    </material>

    <material name="Material.034">
      <color rgba="0.48 0.48 0.48 1.0"/>
    </material>

    <material name="Material.035">
      <color rgba="0.64 0.64 0.64 1.0"/>
    </material>

    <material name="Material.036">
      <color rgba="0.4 0.4 0.4 1.0"/>
    </material>

    <material name="Material.037">
      <color rgba="0 0 0 1.0"/>
    </material>

    <material name="Material.038">
      <color rgba="0.72 0.72 0.72 1.0"/>
    </material>

    <material name="Material.039">
      <color rgba="0.64 0.64 0.64 1.0"/>
    </material>

    <material name="Material.040">
      <color rgba="0.56 0.56 0.56 1.0"/>
    </material>

    <material name="Material.041">
      <color rgba="0.64 0.64 0.64 1.0"/>
    </material>

    <material name="Material.042">
      <color rgba="0.64 0.64 0.64 1.0"/>
    </material>

    <material name="Material.043">
      <color rgba="0.16 0.16 0.16 1.0"/>
    </material>

    <material name="Material.044">
      <color rgba="1.0 1.0 1.0 1.0"/>
    </material>

    <material name="Material.045">
      <color rgba="0 0 0 1.0"/>
    </material>

    <material name="Material.048">
      <color rgba="0.64 0.64 0.64 1.0"/>
    </material>

    <material name="Material.049">
      <color rgba="0.64 0.64 0.64 1.0"/>
    </material>

    <material name="Material.050">
      <color rgba="0.16 0.16 0.16 1.0"/>
    </material>

    <material name="Material.051">
      <color rgba="0.16 0.16 0.16 1.0"/>
    </material>

    <material name="Material.052">
      <color rgba="0.64 0.64 0.64 1.0"/>
    </material>

  </robot>
